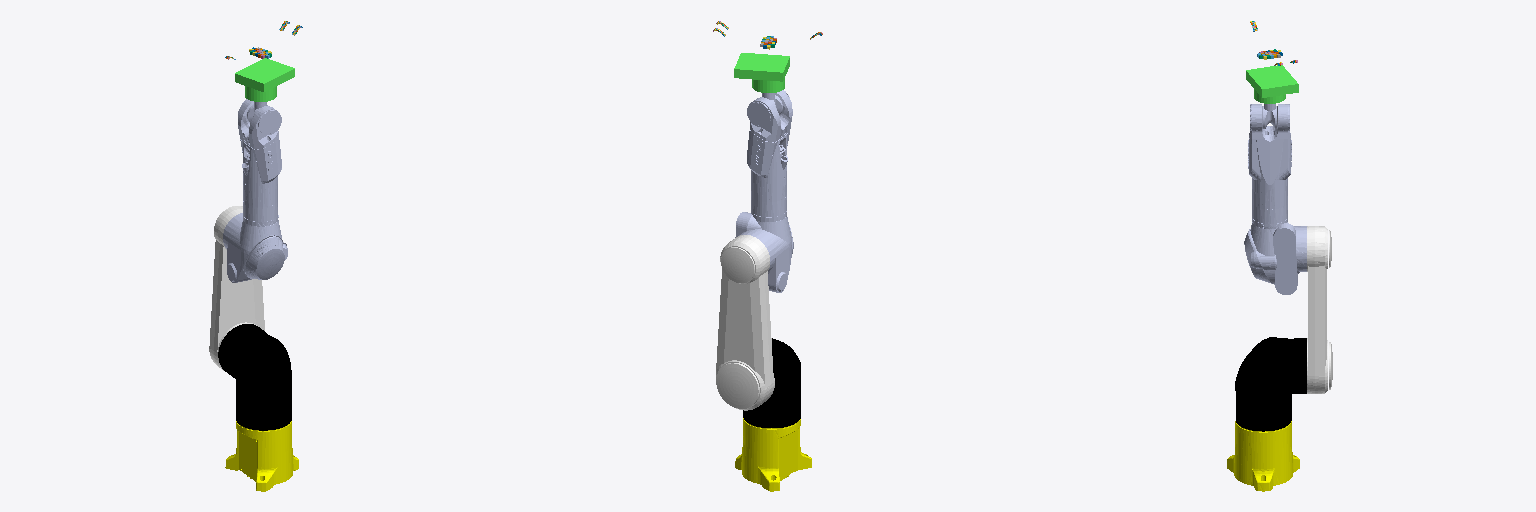
--- Render facts (derived) ---
The picture shows the robot from 3 angles, left to right: view 1: azimuth 30°, elevation 25°; view 2: azimuth 150°, elevation 25°; view 3: azimuth 270°, elevation 25°; orthographic projection.
Model staubli_bhand with 119 links and 118 joints (14 revolute, 104 fixed), rooted at staubli_rx60l_link1, posed all joints at 0.
Visible links, largest first — view 1: staubli_rx60l_link2, staubli_rx60l_link5, staubli_rx60l_link3, staubli_rx60l_link4, staubli_rx60l_link1, barrett_mount_link; view 2: staubli_rx60l_link3, staubli_rx60l_link5, staubli_rx60l_link1, staubli_rx60l_link2, staubli_rx60l_link4, barrett_mount_link; view 3: staubli_rx60l_link2, staubli_rx60l_link5, staubli_rx60l_link3, staubli_rx60l_link4, staubli_rx60l_link1, barrett_mount_link.
Boxes of the visible links, x1=… form: staubli_rx60l_link2: x1=218, y1=324, x2=291, y2=430; staubli_rx60l_link5: x1=238, y1=99, x2=281, y2=221; staubli_rx60l_link3: x1=209, y1=206, x2=264, y2=370; staubli_rx60l_link4: x1=223, y1=213, x2=287, y2=282; staubli_rx60l_link1: x1=225, y1=421, x2=298, y2=491; barrett_mount_link: x1=235, y1=58, x2=294, y2=91; staubli_rx60l_link3: x1=716, y1=235, x2=774, y2=410; staubli_rx60l_link5: x1=747, y1=90, x2=792, y2=216; staubli_rx60l_link1: x1=735, y1=418, x2=811, y2=491; staubli_rx60l_link2: x1=743, y1=338, x2=800, y2=427; staubli_rx60l_link4: x1=735, y1=211, x2=793, y2=292; barrett_mount_link: x1=734, y1=53, x2=789, y2=81; staubli_rx60l_link2: x1=1235, y1=337, x2=1306, y2=431; staubli_rx60l_link5: x1=1248, y1=104, x2=1291, y2=223; staubli_rx60l_link3: x1=1307, y1=226, x2=1332, y2=393; staubli_rx60l_link4: x1=1244, y1=218, x2=1306, y2=294; staubli_rx60l_link1: x1=1227, y1=421, x2=1299, y2=491; barrett_mount_link: x1=1246, y1=65, x2=1298, y2=97.
Size in the robot's own frame: 0.3233 by 0.3308 by 1.49 metres.
7 mesh visuals loaded from 11 distinct referenced files (7 Collada DAE); not drawn: 9 (reference not matched to a file when rendering).

robot.urdf — staubli_bhand:
<?xml version="1.0" ?>
<!-- =================================================================================== -->
<!-- |    This document was autogenerated by xacro from staubli_bhand.xacro            | -->
<!-- |    EDITING THIS FILE BY HAND IS NOT RECOMMENDED                                 | -->
<!-- =================================================================================== -->
<robot name="staubli_bhand">
    <!-- links -->
    <link name="staubli_rx60l_link1">
        <inertial>
            <mass value="0.1"/>
            <origin rpy="0 0 0" xyz="0 0 0"/>
            <inertia ixx="0.01" ixy="0" ixz="0" iyy="0.01" iyz="0" izz="0.01"/>
        </inertial>
        <visual>
            <origin rpy="0 0 0" xyz="0 0 0"/>
            <geometry>
                <mesh filename="package://staubli_description/meshes/tx60l/collada/1.dae" scale=".001 .001 .001"/>
            </geometry>
            <material name="Yellow">
                <color rgba="245 196 0 1.0"/>
            </material>
        </visual>
        <!--<collision>-->
            <!--<origin rpy="0 0 0" xyz="0 0 0"/>-->
            <!--<geometry>-->
                <!--<mesh filename="package://staubli_description/meshes/tx60l/collada/1.dae" scale=".001 .001 .001"/>-->
            <!--</geometry>-->
            <!--<material name="Yellow">-->
                <!--<color rgba="245 196 0 1.0"/>-->
            <!--</material>-->
            <!--<inertial>-->
                <!--<origin xyz="0 0 0"/>-->
                <!--<mass value="50.573"/>-->
                <!--<inertia ixx="0.0001" ixy="0.0" ixz="0.0" iyy="0.0001" iyz="0.0" izz="0.001"/>-->
            <!--</inertial>-->
        <!--</collision>-->
    </link>
    <link name="staubli_rx60l_link2">
        <inertial>
            <mass value="0.1"/>
            <origin rpy="0 0 0" xyz="0 0 0"/>
            <inertia ixx="0.01" ixy="0" ixz="0" iyy="0.01" iyz="0" izz="0.01"/>
        </inertial>
        <visual>
            <origin rpy="0 0 0" xyz="0 0 0"/>
            <geometry>
                <mesh filename="package://staubli_description/meshes/tx60l/collada/2.dae" scale=".001 .001 .001"/>
            </geometry>
            <material name="Black">
                <color rgba="0 0 0 1.0"/>
            </material>
        </visual>
        <!--<collision>-->
            <!--<origin rpy="0 0 0" xyz="0 0 0"/>-->
            <!--<geometry>-->
                <!--<mesh filename="package://staubli_description/meshes/tx60l/collada/2.dae" scale=".001 .001 .001"/>-->
            <!--</geometry>-->
            <!--<material name="Black">-->
                <!--<color rgba="0 0 0 1.0"/>-->
            <!--</material>-->
            <!--<inertial>-->
                <!--<origin xyz="0 0 0"/>-->
                <!--<mass value="50.573"/>-->
                <!--<inertia ixx="0.0001" ixy="0.0" ixz="0.0" iyy="0.0001" iyz="0.0" izz="0.001"/>-->
            <!--</inertial>-->
        <!--</collision>-->
    </link>
    <link name="staubli_rx60l_link3">
        <inertial>
            <mass value="0.1"/>
            <origin rpy="0 0 0" xyz="0 0 0"/>
            <inertia ixx="0.01" ixy="0" ixz="0" iyy="0.01" iyz="0" izz="0.01"/>
        </inertial>
        <visual>
            <origin rpy="0 0 0" xyz="-0.4 0 0"/>
            <geometry>
                <mesh filename="package://staubli_description/meshes/tx60l/collada/3.dae" scale=".001 .001 .001"/>
            </geometry>
            <material name="White">
                <color rgba="255 255 255 1.0"/>
            </material>
        </visual>
        <!--<collision>-->
            <!--<origin rpy="0 0 0" xyz="-0.4 0 0"/>-->
            <!--<geometry>-->
                <!--<mesh filename="package://staubli_description/meshes/tx60l/collada/3.dae" scale=".001 .001 .001"/>-->
            <!--</geometry>-->
            <!--<material name="White">-->
                <!--<color rgba="[phone redacted] 1.0"/>-->
            <!--</material>-->
        <!--</collision>-->
    </link>
    <link name="staubli_rx60l_link4">
        <inertial>
            <mass value="0.1"/>
            <origin rpy="0 0 0" xyz="0 0 0"/>
            <inertia ixx="0.01" ixy="0" ixz="0" iyy="0.01" iyz="0" izz="0.01"/>
        </inertial>
        <visual>
            <origin rpy="0 0 0" xyz="0 0 0"/>
            <geometry>
                <mesh filename="package://staubli_description/meshes/tx60l/collada/4.dae" scale=".001 .001 .001"/>
            </geometry>
            <material name="Blue"/>
        </visual>
        <!--<collision>-->
            <!--<origin rpy="0 0 0" xyz="0 0 0"/>-->
            <!--<geometry>-->
                <!--<mesh filename="package://staubli_description/meshes/tx60l/collada/4.dae" scale=".001 .001 .001"/>-->
            <!--</geometry>-->
            <!--<material name="Blue">-->
                <!--<color rgba="0 0 255 1.0"/>-->
            <!--</material>-->
        <!--</collision>-->
    </link>
    <link name="staubli_rx60l_link5">
        <inertial>
            <mass value="0.1"/>
            <origin rpy="0 0 0" xyz="0 0 0"/>
            <inertia ixx="0.01" ixy="0" ixz="0" iyy="0.01" iyz="0" izz="0.01"/>
        </inertial>
        <visual>
            <origin rpy="0 0 0" xyz="0 0 0"/>
            <geometry>
                <mesh filename="package://staubli_description/meshes/tx60l/collada/5.dae" scale=".001 .001 .001"/>
            </geometry>
            <material name="Blue"/>
        </visual>
        <!--<collision>-->
            <!--<origin rpy="0 0 0" xyz="0 0 0"/>-->
            <!--<geometry>-->
                <!--<mesh filename="package://staubli_description/meshes/tx60l/collada/5.dae" scale=".001 .001 .001"/>-->
            <!--</geometry>-->
            <!--<material name="Blue">-->
                <!--<color rgba="0 0 255 1.0"/>-->
            <!--</material>-->
        <!--</collision>-->
    </link>
    <link name="staubli_rx60l_link6">
        <inertial>
            <mass value="0.1"/>
            <origin rpy="0 0 0" xyz="0 0 0"/>
            <inertia ixx="0.01" ixy="0" ixz="0" iyy="0.01" iyz="0" izz="0.01"/>
        </inertial>
        <visual>
            <origin rpy="0 0 0" xyz="0 0 0"/>
            <geometry>
                <mesh filename="package://staubli_description/meshes/tx60l/collada/6.dae" scale=".001 .001 .001"/>
            </geometry>
            <material name="Blue"/>
        </visual>
        <!--<collision>-->
            <!--<origin rpy="0 0 0" xyz="0 0 0"/>-->
            <!--<geometry>-->
                <!--<mesh filename="package://staubli_description/meshes/tx60l/collada/6.dae" scale=".001 .001 .001"/>-->
            <!--</geometry>-->
            <!--<material name="Blue">-->
                <!--<color rgba="0 0 255 1.0"/>-->
            <!--</material>-->
        <!--</collision>-->
    </link>
    <link name="staubli_rx60l_link7">
        <inertial>
            <mass value="0.1"/>
            <origin rpy="0 0 0" xyz="0 0 0"/>
            <inertia ixx="0.01" ixy="0" ixz="0" iyy="0.01" iyz="0" izz="0.01"/>
        </inertial>
        <visual>
            <origin rpy="0 0 0" xyz="0 0 0"/>
            <geometry>
                <mesh filename="package://staubli_description/meshes/tx60l/collada/7.dae" scale=".001 .001 .001"/>
            </geometry>
            <material name="Gray">
                <color rgba="100 100 100 1.0"/>
            </material>
        </visual>
        <!--<collision>-->
            <!--<origin rpy="0 0 0" xyz="0 0 0"/>-->
            <!--<geometry>-->
                <!--<mesh filename="package://staubli_description/meshes/tx60l/collada/7.dae" scale=".001 .001 .001"/>-->
            <!--</geometry>-->
            <!--<material name="Gray">-->
                <!--<color rgba="[phone redacted] 1.0"/>-->
            <!--</material>-->
        <!--</collision>-->
    </link>
    <link name="staubli_rx60l_tool0">
        <inertial>
            <mass value="0.1"/>
            <origin rpy="0 0 0" xyz="0 0 0"/>
            <inertia ixx="0.01" ixy="0" ixz="0" iyy="0.01" iyz="0" izz="0.01"/>
        </inertial>
    </link>

    <!-- joints -->
    <joint name="joint_1" type="revolute">
        <origin rpy="1.57079 0.0 3.1415" xyz="0 0 0"/>
        <parent link="staubli_rx60l_link1"/>
        <child link="staubli_rx60l_link2"/>
        <axis xyz="0 1 0"/>
        <limit effort="100" lower="-2.792526803" upper="2.792526803" velocity="5.009094953"/>
    </joint>
    <joint name="joint_2" type="revolute">
        <origin rpy="0 0 -1.5707" xyz="0 0.0 0.1606"/>
        <parent link="staubli_rx60l_link2"/>
        <child link="staubli_rx60l_link3"/>
        <axis xyz="0 0 1"/>
        <limit effort="100" lower="-2.225294796" upper="2.225294796" velocity="5.009094953"/>
    </joint>
    <joint name="joint_3" type="revolute">
        <origin rpy="1.5707 0 -1.5707" xyz="-0.4 0.0 -0.1406"/>
        <parent link="staubli_rx60l_link3"/>
        <child link="staubli_rx60l_link4"/>
        <axis xyz="0 1 0"/>
        <limit effort="100" lower="-2.347467844" upper="2.347467844" velocity="5.567600314"/>
    </joint>
    <joint name="joint_4" type="revolute">
        <origin rpy="1.571 -0.000 3.142" xyz="0 0 0.45"/>
        <parent link="staubli_rx60l_link4"/>
        <child link="staubli_rx60l_link5"/>
        <axis xyz="0 1 0"/>
        <limit effort="100" lower="-4.71238898" upper="4.71238898" velocity="7.155849933"/>
    </joint>
    <joint name="joint_5" type="revolute">
        <origin rpy="1.571 0.000 3.142" xyz="0 0 0.0"/>
        <parent link="staubli_rx60l_link5"/>
        <child link="staubli_rx60l_link6"/>
        <axis xyz="0 1 0"/>
        <limit effort="100" lower="-1.78" upper="1.86" velocity="5.585053606"/>
    </joint>
    <joint name="joint_6" type="revolute">
        <origin xyz="0 0 0.07"/>
        <parent link="staubli_rx60l_link6"/>
        <child link="staubli_rx60l_link7"/>
        <axis xyz="0 0 1"/>
        <limit effort="100" lower="-6.2" upper="6.2" velocity="12.217304764"/>
    </joint>
    <joint name="joint_6-tool0" type="fixed">
        <parent link="staubli_rx60l_link7"/>
        <child link="staubli_rx60l_tool0"/>
        <origin rpy="0 0 0" xyz="0 0 0"/>
    </joint>
    <link name="wrist_load_cell">
        <visual>
            <material name="ATIGreen">
                <color rgba="0.4 1.0 0.4 1.0"/>
            </material>
            <origin rpy="0 0 0" xyz="0 0 0"/>
            <geometry>
                <cylinder length="0.0775" radius="0.05"/>
            </geometry>
        </visual>
        <collision>
            <material name="ATIGreen">
                <color rgba="0.4 1.0 0.4 1.0"/>
            </material>
            <origin rpy="0 0 0" xyz="0 0 0"/>
            <geometry>
                <cylinder length="0.0775" radius="0.065"/>
            </geometry>
        </collision>
        <inertial>
            <origin xyz="0 0 0"/>
            <mass value="0.50573"/>
            <inertia ixx="0.0001" ixy="0.0" ixz="0.0" iyy="0.0001" iyz="0.0" izz="0.001"/>
        </inertial>
    </link>
    <joint name="ati_load_cell_joint" type="fixed">
        <origin rpy="0 0 0" xyz="0 0 0.03875"/>
        <parent link="staubli_rx60l_link7"/>
        <child link="wrist_load_cell"/>
    </joint>
    <link name="barrett_mount_link">
        <visual>
            <origin rpy="0 0 0" xyz="0.0 0.02 0"/>
            <material name="ATIGreen">
                <color rgba="0.4 1.0 0.4 1.0"/>
            </material>
            <geometry>
                <box size="0.12 0.15 0.03"/>
            </geometry>
        </visual>
        <collision>
            <origin rpy="0 0 0" xyz="0.0 0.02 0"/>
            <material name="ATIGreen">
                <color rgba="0.4 1.0 0.4 1.0"/>
            </material>
            <geometry>
                <cylinder length="0.0775" radius="0.065"/>
            </geometry>
        </collision>
        <inertial>
            <origin xyz="0 0 0"/>
            <mass value="0.50573"/>
            <inertia ixx="0.0001" ixy="0.0" ixz="0.0" iyy="0.0001" iyz="0.0" izz="0.001"/>
        </inertial>
    </link>
    <joint name="barrett_mount_joint" type="fixed">
        <origin rpy="0 0 5.0614" xyz="0 0 0.0625"/>
        <parent link="staubli_rx60l_link7"/>
        <child link="barrett_mount_link"/>
    </joint>
    <link name="approach_tran">
        <inertial>
            <origin xyz="0 0 0"/>
            <mass value="0.001"/>
            <inertia ixx="0.0001" ixy="0.0" ixz="0.0" iyy="0.0001" iyz="0.0" izz="0.001"/>
        </inertial>
    </link>
    <joint name="approach_tran_joint" type="fixed">
        <origin rpy="0 0 5.0614" xyz="0 0 0.149"/>
        <parent link="staubli_rx60l_link7"/>
        <child link="approach_tran"/>
    </joint>
    <joint name="bh_base_joint" type="fixed">
        <origin rpy="0 0 5.0614" xyz="0 0 0.0705"/>
        <parent link="staubli_rx60l_link7"/>
        <child link="bh_base_link"/>
    </joint>
    <!-- HAND WORLD_LINK (RED) -->
    <link name="bh_base_link">
        <inertial>
            <mass value="1.0"/>
            <origin xyz="0 0 0"/>
            <inertia ixx="1.0" ixy="0.0" ixz="0.0" iyy="1.0" iyz="0.0" izz="1.0"/>
        </inertial>
        <visual>
            <origin rpy="0 0 0" xyz="0 0 0"/>
            <geometry>
                <mesh filename="package://barrett_hand_description/meshes/palm_280.dae"/>
            </geometry>
            <material name="White">
                <color rgba="255 255 255 0.8"/>
            </material>
        </visual>
        <collision>
            <origin rpy="0 0 0 " xyz="0 0 0"/>
            <geometry>
                <mesh filename="package://barrett_hand_description/meshes/palm_280.dae"/>
            </geometry>
            <contact_coefficients kd="1.0" kp="1000.0" mu="0"/>
        </collision>
    </link>
    <!-- finger 3 -->
    <!-- finger 32 link -->
    <link name="bh_finger_32_link">
        <inertial>
            <mass value="0.1"/>
            <origin rpy="0 0 0" xyz="0 0 0"/>
            <inertia ixx="0.01" ixy="0" ixz="0" iyy="0.01" iyz="0" izz="0.01"/>
        </inertial>
        <visual>
            <origin rpy="0 0 0" xyz="0 0 0"/>
            <geometry>
                <mesh filename="package://barrett_hand_description/meshes/finger.dae"/>
            </geometry>
            <material name="Blue"/>
        </visual>
        <collision>
            <origin rpy="0 0 0" xyz="0 0 0"/>
            <geometry>
                <mesh filename="package://barrett_hand_description/meshes/finger.dae"/>
            </geometry>
            <contact_coefficients kd="1.0" kp="1000.0" mu="0"/>
        </collision>
    </link>
    <!-- joint between BH_finger_31_link and BH_finger_32_link -->
    <joint name="bh_j32_joint" type="revolute">
        <parent link="bh_base_link"/>
        <child link="bh_finger_32_link"/>
        <origin rpy="1.5708 0 1.5708" xyz="0 -0.05 0.0754"/>
        <axis xyz="0 0 -1"/>
        <limit effort="30.0" lower="0.0" upper="2.44" velocity="2.0"/>
        <dynamics damping="1" friction="1.0"/>
    </joint>
    <transmission name="bh_j32_transmission">
        <type>transmission_interface/SimpleTransmission</type>
        <joint name="bh_j32_joint">
            <hardwareInterface>PositionJointInterface</hardwareInterface>
        </joint>
        <actuator name="bh_j32">
            <hardwareInterface>PositionJointInterface</hardwareInterface>
            <mechanicalReduction>1</mechanicalReduction>
            <motorTorqueConstant>1</motorTorqueConstant>
        </actuator>
    </transmission>
    <!-- finger 33 link -->
    <link name="bh_finger_33_link">
        <inertial>
            <mass value="0.1"/>
            <origin rpy="0 0 0" xyz="0 0 0"/>
            <inertia ixx="0.01" ixy="0" ixz="0" iyy="0.01" iyz="0" izz="0.01"/>
        </inertial>
        <visual>
            <origin rpy="0 0 0" xyz="0 0 0"/>
            <geometry>
                <mesh filename="package://barrett_hand_description/meshes/finger_tip.dae"/>
            </geometry>
            <material name="White"/>
        </visual>
        <collision>
            <origin rpy="0 0 0" xyz="0 0 0"/>
            <geometry>
                <mesh filename="package://barrett_hand_description/meshes/finger_tip.dae"/>
            </geometry>
            <contact_coefficients kd="1.0" kp="1000.0" mu="0"/>
        </collision>
    </link>
    <!-- joint between BH_finger_32_link and BH_finger_33_link -->
    <joint name="bh_j33_joint" type="revolute">
        <parent link="bh_finger_32_link"/>
        <child link="bh_finger_33_link"/>
        <origin rpy="0 0 0" xyz="-0.069936 0.003 0"/>
        <axis xyz="0 0 -1"/>
        <mimic joint="bh_j32_joint" multiplier="0.344262295082"/>
        <limit effort="30.0" lower="0.0" upper="0.84" velocity="2.0"/>
        <dynamics damping="1" friction="1.0"/>
    </joint>
    <transmission name="bh_j33_transmission">
        <type>transmission_interface/SimpleTransmission</type>
        <joint name="bh_j33_joint">
            <hardwareInterface>PositionJointInterface</hardwareInterface>
        </joint>
        <actuator name="bh_j33">
            <hardwareInterface>PositionJointInterface</hardwareInterface>
            <mechanicalReduction>1</mechanicalReduction>
            <motorTorqueConstant>1</motorTorqueConstant>
        </actuator>
    </transmission>
    <!-- finger 1 -->
    <!-- finger 11 link -->
    <link name="bh_finger_11_link">
        <inertial>
            <mass value="0.1"/>
            <origin rpy="0 0 0" xyz="-0.046 0 0"/>
            <inertia ixx="0.01" ixy="0" ixz="0" iyy="0.01" iyz="0" izz="0.01"/>
        </inertial>
        <visual>
            <origin rpy="0 0 0" xyz="0 0 0"/>
            <geometry>
                <mesh filename="package://barrett_hand_description/meshes/knuckle.dae"/>
            </geometry>
            <material name="Green"/>
        </visual>
        <collision>
            <origin rpy="0 0 0" xyz="0 0 0"/>
            <geometry>
                <mesh filename="package://barrett_hand_description/meshes/knuckle.dae"/>
            </geometry>
        </collision>
    </link>
    <!-- joint between BH_palm_link and BH_finger_11_link -->
    <joint name="bh_j11_joint" type="revolute">
        <parent link="bh_base_link"/>
        <child link="bh_finger_11_link"/>
        <origin rpy="0 0 -1.5708" xyz="0.025 0 0.0415"/>
        <axis xyz="0 0 -1"/>
        <limit effort="30.0" lower="0" upper="3.1416" velocity="2.0"/>
        <dynamics damping="1" friction="1.0"/>
    </joint>
    <transmission name="bh_j11_transmission">
        <type>transmission_interface/SimpleTransmission</type>
        <joint name="bh_j11_joint">
            <hardwareInterface>PositionJointInterface</hardwareInterface>
        </joint>
        <actuator name="bh_j11">
            <hardwareInterface>PositionJointInterface</hardwareInterface>
            <mechanicalReduction>1</mechanicalReduction>
            <motorTorqueConstant>1</motorTorqueConstant>
        </actuator>
    </transmission>
    <!-- finger 12 link -->
    <link name="bh_finger_12_link">
        <inertial>
            <mass value="0.1"/>
            <origin rpy="0 0 0" xyz="0 0 0"/>
            <inertia ixx="0.01" ixy="0" ixz="0" iyy="0.01" iyz="0" izz="0.01"/>
        </inertial>
        <visual>
            <origin rpy="0 0 0" xyz="0 0 0"/>
            <geometry>
                <mesh filename="package://barrett_hand_description/meshes/finger.dae"/>
            </geometry>
            <material name="Blue"/>
        </visual>
        <collision>
            <origin rpy="0 0 0" xyz="0 0 0"/>
            <geometry>
                <mesh filename="package://barrett_hand_description/meshes/finger.dae"/>
            </geometry>
            <contact_coefficients kd="1.0" kp="1000.0" mu="0"/>
        </collision>
    </link>
    <!-- joint between BH_finger_11_link and BH_finger_12_link -->
    <joint name="bh_j12_joint" type="revolute">
        <parent link="bh_finger_11_link"/>
        <child link="bh_finger_12_link"/>
        <origin rpy="1.5708 0 0" xyz="-0.05 0 0.0339"/>
        <axis xyz="0 0 -1"/>
        <limit effort="30.0" lower="0.0" upper="2.44" velocity="2.0"/>
        <dynamics damping="1" friction="1.0"/>
    </joint>
    <transmission name="bh_j12_transmission">
        <type>transmission_interface/SimpleTransmission</type>
        <joint name="bh_j12_joint">
            <hardwareInterface>PositionJointInterface</hardwareInterface>
        </joint>
        <actuator name="bh_j12">
            <hardwareInterface>PositionJointInterface</hardwareInterface>
            <mechanicalReduction>1</mechanicalReduction>
            <motorTorqueConstant>1</motorTorqueConstant>
        </actuator>
    </transmission>
    <!-- finger 13 link -->
    <link name="bh_finger_13_link">
        <inertial>
            <mass value="0.1"/>
            <origin rpy="0 0 0" xyz="0 0 0"/>
            <inertia ixx="0.01" ixy="0" ixz="0" iyy="0.01" iyz="0" izz="0.01"/>
        </inertial>
        <visual>
            <origin rpy="0 0 0" xyz="0 0 0"/>
            <geometry>
                <mesh filename="package://barrett_hand_description/meshes/finger_tip.dae"/>
            </geometry>
            <material name="White"/>
        </visual>
        <collision>
            <origin rpy="0 0 0" xyz="0 0 0"/>
            <geometry>
                <mesh filename="package://barrett_hand_description/meshes/finger_tip.dae"/>
            </geometry>
            <contact_coefficients kd="1.0" kp="1000.0" mu="0"/>
        </collision>
    </link>
    <!-- joint between BH_finger_12_link and BH_finger_13_link -->
    <joint name="bh_j13_joint" type="revolute">
        <parent link="bh_finger_12_link"/>
        <child link="bh_finger_13_link"/>
        <origin rpy="0 0 0" xyz="-0.069936 0.003 0"/>
        <axis xyz="0 0 -1"/>
        <mimic joint="bh_j12_joint" multiplier="0.344262295082"/>
        <limit effort="30.0" lower="0.0" upper="0.84" velocity="2.0"/>
        <dynamics damping="1" friction="1.0"/>
    </joint>
    <transmission name="bh_j13_transmission">
        <type>transmission_interface/SimpleTransmission</type>
        <joint name="bh_j13_joint">
            <hardwareInterface>PositionJointInterface</hardwareInterface>
        </joint>
        <actuator name="bh_j13">
            <hardwareInterface>PositionJointInterface</hardwareInterface>
            <mechanicalReduction>1</mechanicalReduction>
            <motorTorqueConstant>1</motorTorqueConstant>
        </actuator>
    </transmission>
    <!-- finger 2 -->
    <!-- finger 21 link -->
    <link name="bh_finger_21_link">
        <inertial>
            <mass value="0.1"/>
            <origin rpy="0 0 0" xyz="-0.046 0 0"/>
            <inertia ixx="0.01" ixy="0" ixz="0" iyy="0.01" iyz="0" izz="0.01"/>
        </inertial>
        <visual>
            <origin rpy="0 0 0" xyz="0 0 0"/>
            <geometry>
                <mesh filename="package://barrett_hand_description/meshes/knuckle.dae"/>
            </geometry>
            <material name="Green"/>
        </visual>
        <collision>
            <origin rpy="0 0 0" xyz="0 0 0"/>
            <geometry>
                <mesh filename="package://barrett_hand_description/meshes/knuckle.dae"/>
            </geometry>
        </collision>
    </link>
    <!-- joint between BH_palm_link and BH_finger_21_link -->
    <joint name="bh_j21_joint" type="revolute">
        <parent link="bh_base_link"/>
        <child link="bh_finger_21_link"/>
        <origin rpy="0 0 -1.5708" xyz="-0.025 0 0.0415"/>
        <axis xyz="0 0 1"/>
        <mimic joint="bh_j11_joint" multiplier="1"/>
        <limit effort="30.0" lower="0" upper="3.1416" velocity="2.0"/>
        <dynamics damping="1" friction="1.0"/>
    </joint>
    <transmission name="bh_j21_transmission">
        <type>transmission_interface/SimpleTransmission</type>
        <joint name="bh_j21_joint">
            <hardwareInterface>PositionJointInterface</hardwareInterface>
        </joint>
        <actuator name="bh_j21">
            <hardwareInterface>PositionJointInterface</hardwareInterface>
            <mechanicalReduction>1</mechanicalReduction>
            <motorTorqueConstant>1</motorTorqueConstant>
        </actuator>
    </transmission>
    <!-- finger 12 link -->
    <link name="bh_finger_22_link">
        <inertial>
            <mass value="0.1"/>
            <origin rpy="0 0 0" xyz="0 0 0"/>
            <inertia ixx="0.01" ixy="0" ixz="0" iyy="0.01" iyz="0" izz="0.01"/>
        </inertial>
        <visual>
            <origin rpy="0 0 0" xyz="0 0 0"/>
            <geometry>
                <mesh filename="package://barrett_hand_description/meshes/finger.dae"/>
            </geometry>
            <material name="Blue"/>
        </visual>
        <collision>
            <origin rpy="0 0 0" xyz="0 0 0"/>
            <geometry>
                <mesh filename="package://barrett_hand_description/meshes/finger.dae"/>
            </geometry>
            <contact_coefficients kd="1.0" kp="1000.0" mu="0"/>
        </collision>
    </link>
    <!-- joint between BH_finger_21_link and BH_finger_22_link -->
    <joint name="bh_j22_joint" type="revolute">
        <parent link="bh_finger_21_link"/>
        <child link="bh_finger_22_link"/>
        <origin rpy="1.5708 -8.8281E-17 0" xyz="-0.05 0 0.0339"/>
        <axis xyz="0 0 -1"/>
        <limit effort="30.0" lower="0.0" upper="2.44" velocity="2.0"/>
        <dynamics damping="1" friction="1.0"/>
    </joint>
    <transmission name="bh_j22_transmission">
        <type>transmission_interface/SimpleTransmission</type>
        <joint name="bh_j22_joint">
            <hardwareInterface>PositionJointInterface</hardwareInterface>
        </joint>
        <actuator name="bh_j22">
            <hardwareInterface>PositionJointInterface</hardwareInterface>
            <mechanicalReduction>1</mechanicalReduction>
            <motorTorqueConstant>1</motorTorqueConstant>
        </actuator>
    </transmission>
    <!-- finger 23 link -->
    <link name="bh_finger_23_link">
        <inertial>
            <mass value="0.1"/>
            <origin rpy="0 0 0" xyz="0 0 0"/>
            <inertia ixx="0.01" ixy="0" ixz="0" iyy="0.01" iyz="0" izz="0.01"/>
        </inertial>
        <visual>
            <origin rpy="0 0 0" xyz="0 0 0"/>
            <geometry>
                <mesh filename="package://barrett_hand_description/meshes/finger_tip.dae"/>
            </geometry>
            <material name="White"/>
        </visual>
        <collision>
            <origin rpy="0 0 0" xyz="0 0 0"/>
            <geometry>
                <mesh filename="package://barrett_hand_description/meshes/finger_tip.dae"/>
            </geometry>
            <contact_coefficients kd="1.0" kp="1000.0" mu="0"/>
        </collision>
    </link>
    <!-- joint between BH_finger_22_link and BH_finger_23_link -->
    <joint name="bh_j23_joint" type="revolute">
        <parent link="bh_finger_22_link"/>
        <child link="bh_finger_23_link"/>
        <origin rpy="0 0 0" xyz="-0.069936 0.003 0"/>
        <axis xyz="0 0 -1"/>
        <mimic joint="bh_j22_joint" multiplier="0.344262295082"/>
        <limit effort="30.0" lower="0.0" upper="0.84" velocity="2.0"/>
        <dynamics damping="1" friction="1.0"/>
    </joint>
    <transmission name="bh_j23_transmission">
        <type>transmission_interface/SimpleTransmission</type>
        <joint name="bh_j23_joint">
            <hardwareInterface>PositionJointInterface</hardwareInterface>
        </joint>
        <actuator name="bh_j23">
            <hardwareInterface>PositionJointInterface</hardwareInterface>
            <mechanicalReduction>1</mechanicalReduction>
            <motorTorqueConstant>1</motorTorqueConstant>
        </actuator>
    </transmission>
    <gazebo>
        <plugin filename="libgazebo_mimic_plugin.so" name="mimic_plugin">
            <joint>bh_j11_joint</joint>
            <mimicJoint>bh_j21_joint</mimicJoint>
            <multiplier>1</multiplier>
        </plugin>
    </gazebo>
    <gazebo>
        <plugin filename="libgazebo_mimic_plugin.so" name="mimic_plugin">
            <joint>bh_j12_joint</joint>
            <mimicJoint>bh_j13_joint</mimicJoint>
            <multiplier>0.344</multiplier>
        </plugin>
    </gazebo>
    <gazebo>
        <plugin filename="libgazebo_mimic_plugin.so" name="mimic_plugin">
            <joint>bh_j22_joint</joint>
            <mimicJoint>bh_j23_joint</mimicJoint>
            <multiplier>0.344</multiplier>
        </plugin>
    </gazebo>
    <gazebo>
        <plugin filename="libgazebo_mimic_plugin.so" name="mimic_plugin">
            <joint>bh_j32_joint</joint>
            <mimicJoint>bh_j33_joint</mimicJoint>
            <multiplier>0.344</multiplier>
        </plugin>
    </gazebo>
    <gazebo reference="bh_base_link">
        <material>Gazebo/White</material>
        <turnGravityOff>False</turnGravityOff>
    </gazebo>
    <gazebo reference="bh_finger_31_link">
        <material>Gazebo/Grey</material>
        <turnGravityOff>False</turnGravityOff>
    </gazebo>
    <gazebo reference="bh_finger_32_link">
        <material>Gazebo/Grey</material>
        <turnGravityOff>False</turnGravityOff>
    </gazebo>
    <gazebo reference="bh_finger_33_link">
        <material>Gazebo/Grey</material>
        <turnGravityOff>False</turnGravityOff>
    </gazebo>
    <gazebo reference="bh_finger_11_link">
        <material>Gazebo/Grey</material>
        <turnGravityOff>False</turnGravityOff>
    </gazebo>
    <gazebo reference="bh_finger_12_link">
        <material>Gazebo/Grey</material>
        <turnGravityOff>False</turnGravityOff>
    </gazebo>
    <gazebo reference="bh_finger_13_link">
        <material>Gazebo/Grey</material>
        <turnGravityOff>False</turnGravityOff>
    </gazebo>
    <gazebo reference="bh_finger_21_link">
        <material>Gazebo/Grey</material>
        <turnGravityOff>False</turnGravityOff>
    </gazebo>
    <gazebo reference="bh_finger_22_link">
        <material>Gazebo/Grey</material>
        <turnGravityOff>False</turnGravityOff>
    </gazebo>
    <gazebo reference="bh_finger_23_link">
        <material>Gazebo/Grey</material>
        <turnGravityOff>False</turnGravityOff>
    </gazebo>
    <!-- Imaginary joints for transform from tactile sensors -->
    <!-- Radian value obtained from graspit description of 40 degrees -->
    <joint name="bh_finger_14_joint" type="fixed">
        <parent link="bh_finger_13_link"/>
        <child link="bh_finger_14_link"/>
        <origin rpy="0 0 0.872665" xyz="0 0 0"/>
    </joint>
    <link name="bh_finger_14_link">
        <inertial>
            <mass value="0.1"/>
            <origin rpy="0 0 0" xyz="0 0 0"/>
            <inertia ixx="0.01" ixy="0" ixz="0" iyy="0.01" iyz="0" izz="0.01"/>
        </inertial>
    </link>
    <joint name="bh_finger_24_joint" type="fixed">
        <parent link="bh_finger_23_link"/>
        <child link="bh_finger_24_link"/>
        <origin rpy="0 0 0.872665" xyz="0 0 0"/>
    </joint>
    <link name="bh_finger_24_link">
        <inertial>
            <mass value="0.1"/>
            <origin rpy="0 0 0" xyz="0 0 0"/>
            <inertia ixx="0.01" ixy="0" ixz="0" iyy="0.01" iyz="0" izz="0.01"/>
        </inertial>
    </link>
    <joint name="bh_finger_34_joint" type="fixed">
        <parent link="bh_finger_33_link"/>
        <child link="bh_finger_34_link"/>
        <origin rpy="0 0 0.872665" xyz="0 0 0"/>
    </joint>
    <link name="bh_finger_34_link">
        <inertial>
            <mass value="0.1"/>
            <origin rpy="0 0 0" xyz="0 0 0"/>
            <inertia ixx="0.01" ixy="0" ixz="0" iyy="0.01" iyz="0" izz="0.01"/>
        </inertial>
    </link>
    <!-- Auto generated tactile sensor links -->
    <joint name="bh_palm_sensor1_joint" type="fixed">
        <origin rpy="0 0 0" xyz="-0.022 0.0165 0.075"/>
        <parent link="bh_base_link"/>
        <child link="bh_palm_sensor_1_link"/>
    </joint>
    <link name="bh_palm_sensor_1_link">
        <inertial>
            <mass value="0.1"/>
            <origin rpy="0 0 0" xyz="0 0 0"/>
            <inertia ixx="0.01" ixy="0" ixz="0" iyy="0.01" iyz="0" izz="0.01"/>
        </inertial>
        <visual>
            <origin rpy="0 0 0" xyz="0 0 0"/>
            <material name="Blue"/>
            <geometry>
                <box size="0.01 0.01 0.0095"/>
            </geometry>
        </visual>
        <collision>
            <origin rpy="0 0 0 " xyz="0 0 0"/>
            <geometry>
                <box size="0.01 0.01 0.0095"/>
            </geometry>
        </collision>
    </link>
    <joint name="bh_palm_sensor2_joint" type="fixed">
        <origin rpy="0 0 0" xyz="-0.011 0.0165 0.075"/>
        <parent link="bh_base_link"/>
        <child link="bh_palm_sensor_2_link"/>
    </joint>
    <link name="bh_palm_sensor_2_link">
        <inertial>
            <mass value="0.1"/>
            <origin rpy="0 0 0" xyz="0 0 0"/>
            <inertia ixx="0.01" ixy="0" ixz="0" iyy="0.01" iyz="0" izz="0.01"/>
        </inertial>
        <visual>
            <origin rpy="0 0 0" xyz="0 0 0"/>
            <material name="Blue"/>
            <geometry>
                <box size="0.01 0.01 0.0095"/>
            </geometry>
        </visual>
        <collision>
            <origin rpy="0 0 0 " xyz="0 0 0"/>
            <geometry>
                <box size="0.01 0.01 0.0095"/>
            </geometry>
        </collision>
    </link>
    <joint name="bh_palm_sensor3_joint" type="fixed">
        <origin rpy="0 0 0" xyz="0.0 0.0165 0.075"/>
        <parent link="bh_base_link"/>
        <child link="bh_palm_sensor_3_link"/>
    </joint>
    <link name="bh_palm_sensor_3_link">
        <inertial>
            <mass value="0.1"/>
            <origin rpy="0 0 0" xyz="0 0 0"/>
            <inertia ixx="0.01" ixy="0" ixz="0" iyy="0.01" iyz="0" izz="0.01"/>
        </inertial>
        <visual>
            <origin rpy="0 0 0" xyz="0 0 0"/>
            <material name="Blue"/>
            <geometry>
                <box size="0.01 0.01 0.0095"/>
            </geometry>
        </visual>
        <collision>
            <origin rpy="0 0 0 " xyz="0 0 0"/>
            <geometry>
                <box size="0.01 0.01 0.0095"/>
            </geometry>
        </collision>
    </link>
    <joint name="bh_palm_sensor4_joint" type="fixed">
        <origin rpy="0 0 0" xyz="0.011 0.0165 0.075"/>
        <parent link="bh_base_link"/>
        <child link="bh_palm_sensor_4_link"/>
    </joint>
    <link name="bh_palm_sensor_4_link">
        <inertial>
            <mass value="0.1"/>
            <origin rpy="0 0 0" xyz="0 0 0"/>
            <inertia ixx="0.01" ixy="0" ixz="0" iyy="0.01" iyz="0" izz="0.01"/>
        </inertial>
        <visual>
            <origin rpy="0 0 0" xyz="0 0 0"/>
            <material name="Blue"/>
            <geometry>
                <box size="0.01 0.01 0.0095"/>
            </geometry>
        </visual>
        <collision>
            <origin rpy="0 0 0 " xyz="0 0 0"/>
            <geometry>
                <box size="0.01 0.01 0.0095"/>
            </geometry>
        </collision>
    </link>
    <joint name="bh_palm_sensor5_joint" type="fixed">
        <origin rpy="0 0 0" xyz="0.022 0.0165 0.075"/>
        <parent link="bh_base_link"/>
        <child link="bh_palm_sensor_5_link"/>
    </joint>
    <link name="bh_palm_sensor_5_link">
        <inertial>
            <mass value="0.1"/>
            <origin rpy="0 0 0" xyz="0 0 0"/>
            <inertia ixx="0.01" ixy="0" ixz="0" iyy="0.01" iyz="0" izz="0.01"/>
        </inertial>
        <visual>
            <origin rpy="0 0 0" xyz="0 0 0"/>
            <material name="Blue"/>
            <geometry>
                <box size="0.01 0.01 0.0095"/>
            </geometry>
        </visual>
        <collision>
            <origin rpy="0 0 0 " xyz="0 0 0"/>
            <geometry>
                <box size="0.01 0.01 0.0095"/>
            </geometry>
        </collision>
    </link>
    <joint name="bh_palm_sensor6_joint" type="fixed">
        <origin rpy="0 0 0" xyz="-0.033 0.0055 0.075"/>
        <parent link="bh_base_link"/>
        <child link="bh_palm_sensor_6_link"/>
    </joint>
    <link name="bh_palm_sensor_6_link">
        <inertial>
            <mass value="0.1"/>
            <origin rpy="0 0 0" xyz="0 0 0"/>
            <inertia ixx="0.01" ixy="0" ixz="0" iyy="0.01" iyz="0" izz="0.01"/>
        </inertial>
        <visual>
            <origin rpy="0 0 0" xyz="0 0 0"/>
            <material name="Blue"/>
            <geometry>
                <box size="0.01 0.01 0.0095"/>
            </geometry>
        </visual>
        <collision>
            <origin rpy="0 0 0 " xyz="0 0 0"/>
            <geometry>
                <box size="0.01 0.01 0.0095"/>
            </geometry>
        </collision>
    </link>
    <joint name="bh_palm_sensor7_joint" type="fixed">
        <origin rpy="0 0 0" xyz="-0.022 0.0055 0.075"/>
        <parent link="bh_base_link"/>
        <child link="bh_palm_sensor_7_link"/>
    </joint>
    <link name="bh_palm_sensor_7_link">
        <inertial>
            <mass value="0.1"/>
            <origin rpy="0 0 0" xyz="0 0 0"/>
            <inertia ixx="0.01" ixy="0" ixz="0" iyy="0.01" iyz="0" izz="0.01"/>
        </inertial>
        <visual>
            <origin rpy="0 0 0" xyz="0 0 0"/>
            <material name="Blue"/>
            <geometry>
                <box size="0.01 0.01 0.0095"/>
            </geometry>
        </visual>
        <collision>
            <origin rpy="0 0 0 " xyz="0 0 0"/>
            <geometry>
                <box size="0.01 0.01 0.0095"/>
            </geometry>
        </collision>
    </link>
    <joint name="bh_palm_sensor8_joint" type="fixed">
        <origin rpy="0 0 0" xyz="-0.011 0.0055 0.075"/>
        <parent link="bh_base_link"/>
        <child link="bh_palm_sensor_8_link"/>
    </joint>
    <link name="bh_palm_sensor_8_link">
        <inertial>
            <mass value="0.1"/>
            <origin rpy="0 0 0" xyz="0 0 0"/>
            <inertia ixx="0.01" ixy="0" ixz="0" iyy="0.01" iyz="0" izz="0.01"/>
        </inertial>
        <visual>
            <origin rpy="0 0 0" xyz="0 0 0"/>
            <material name="Blue"/>
            <geometry>
                <box size="0.01 0.01 0.0095"/>
            </geometry>
        </visual>
        <collision>
            <origin rpy="0 0 0 " xyz="0 0 0"/>
            <geometry>
                <box size="0.01 0.01 0.0095"/>
            </geometry>
        </collision>
    </link>
    <joint name="bh_palm_sensor9_joint" type="fixed">
        <origin rpy="0 0 0" xyz="0.0 0.0055 0.075"/>
        <parent link="bh_base_link"/>
        <child link="bh_palm_sensor_9_link"/>
    </joint>
    <link name="bh_palm_sensor_9_link">
        <inertial>
            <mass value="0.1"/>
            <origin rpy="0 0 0" xyz="0 0 0"/>
            <inertia ixx="0.01" ixy="0" ixz="0" iyy="0.01" iyz="0" izz="0.01"/>
        </inertial>
        <visual>
            <origin rpy="0 0 0" xyz="0 0 0"/>
            <material name="Blue"/>
            <geometry>
                <box size="0.01 0.01 0.0095"/>
            </geometry>
        </visual>
        <collision>
            <origin rpy="0 0 0 " xyz="0 0 0"/>
            <geometry>
                <box size="0.01 0.01 0.0095"/>
            </geometry>
        </collision>
    </link>
    <joint name="bh_palm_sensor10_joint" type="fixed">
        <origin rpy="0 0 0" xyz="0.011 0.0055 0.075"/>
        <parent link="bh_base_link"/>
        <child link="bh_palm_sensor_10_link"/>
    </joint>
    <link name="bh_palm_sensor_10_link">
        <inertial>
            <mass value="0.1"/>
            <origin rpy="0 0 0" xyz="0 0 0"/>
            <inertia ixx="0.01" ixy="0" ixz="0" iyy="0.01" iyz="0" izz="0.01"/>
        </inertial>
        <visual>
            <origin rpy="0 0 0" xyz="0 0 0"/>
            <material name="Blue"/>
            <geometry>
                <box size="0.01 0.01 0.0095"/>
            </geometry>
        </visual>
        <collision>
            <origin rpy="0 0 0 " xyz="0 0 0"/>
            <geometry>
                <box size="0.01 0.01 0.0095"/>
            </geometry>
        </collision>
    </link>
    <joint name="bh_palm_sensor11_joint" type="fixed">
        <origin rpy="0 0 0" xyz="0.022 0.0055 0.075"/>
        <parent link="bh_base_link"/>
        <child link="bh_palm_sensor_11_link"/>
    </joint>
    <link name="bh_palm_sensor_11_link">
        <inertial>
            <mass value="0.1"/>
            <origin rpy="0 0 0" xyz="0 0 0"/>
            <inertia ixx="0.01" ixy="0" ixz="0" iyy="0.01" iyz="0" izz="0.01"/>
        </inertial>
        <visual>
            <origin rpy="0 0 0" xyz="0 0 0"/>
            <material name="Blue"/>
            <geometry>
                <box size="0.01 0.01 0.0095"/>
            </geometry>
        </visual>
        <collision>
            <origin rpy="0 0 0 " xyz="0 0 0"/>
            <geometry>
                <box size="0.01 0.01 0.0095"/>
            </geometry>
        </collision>
    </link>
    <joint name="bh_palm_sensor12_joint" type="fixed">
        <origin rpy="0 0 0" xyz="0.033 0.0055 0.075"/>
        <parent link="bh_base_link"/>
        <child link="bh_palm_sensor_12_link"/>
    </joint>
    <link name="bh_palm_sensor_12_link">
        <inertial>
            <mass value="0.1"/>
            <origin rpy="0 0 0" xyz="0 0 0"/>
            <inertia ixx="0.01" ixy="0" ixz="0" iyy="0.01" iyz="0" izz="0.01"/>
        </inertial>
        <visual>
            <origin rpy="0 0 0" xyz="0 0 0"/>
            <material name="Blue"/>
            <geometry>
                <box size="0.01 0.01 0.0095"/>
            </geometry>
        </visual>
        <collision>
            <origin rpy="0 0 0 " xyz="0 0 0"/>
            <geometry>
                <box size="0.01 0.01 0.0095"/>
            </geometry>
        </collision>
    </link>
    <joint name="bh_palm_sensor13_joint" type="fixed">
        <origin rpy="0 0 0" xyz="-0.033 -0.0055 0.075"/>
        <parent link="bh_base_link"/>
        <child link="bh_palm_sensor_13_link"/>
    </joint>
    <link name="bh_palm_sensor_13_link">
        <inertial>
            <mass value="0.1"/>
            <origin rpy="0 0 0" xyz="0 0 0"/>
            <inertia ixx="0.01" ixy="0" ixz="0" iyy="0.01" iyz="0" izz="0.01"/>
        </inertial>
        <visual>
            <origin rpy="0 0 0" xyz="0 0 0"/>
            <material name="Blue"/>
            <geometry>
                <box size="0.01 0.01 0.0095"/>
            </geometry>
        </visual>
        <collision>
            <origin rpy="0 0 0 " xyz="0 0 0"/>
            <geometry>
                <box size="0.01 0.01 0.0095"/>
            </geometry>
        </collision>
    </link>
    <joint name="bh_palm_sensor14_joint" type="fixed">
        <origin rpy="0 0 0" xyz="-0.022 -0.0055 0.075"/>
        <parent link="bh_base_link"/>
        <child link="bh_palm_sensor_14_link"/>
    </joint>
    <link name="bh_palm_sensor_14_link">
        <inertial>
            <mass value="0.1"/>
            <origin rpy="0 0 0" xyz="0 0 0"/>
            <inertia ixx="0.01" ixy="0" ixz="0" iyy="0.01" iyz="0" izz="0.01"/>
        </inertial>
        <visual>
            <origin rpy="0 0 0" xyz="0 0 0"/>
            <material name="Blue"/>
            <geometry>
                <box size="0.01 0.01 0.0095"/>
            </geometry>
        </visual>
        <collision>
            <origin rpy="0 0 0 " xyz="0 0 0"/>
            <geometry>
                <box size="0.01 0.01 0.0095"/>
            </geometry>
        </collision>
    </link>
    <joint name="bh_palm_sensor15_joint" type="fixed">
        <origin rpy="0 0 0" xyz="-0.011 -0.0055 0.075"/>
        <parent link="bh_base_link"/>
        <child link="bh_palm_sensor_15_link"/>
    </joint>
    <link name="bh_palm_sensor_15_link">
        <inertial>
            <mass value="0.1"/>
            <origin rpy="0 0 0" xyz="0 0 0"/>
            <inertia ixx="0.01" ixy="0" ixz="0" iyy="0.01" iyz="0" izz="0.01"/>
        </inertial>
        <visual>
            <origin rpy="0 0 0" xyz="0 0 0"/>
            <material name="Blue"/>
            <geometry>
                <box size="0.01 0.01 0.0095"/>
            </geometry>
        </visual>
        <collision>
            <origin rpy="0 0 0 " xyz="0 0 0"/>
            <geometry>
                <box size="0.01 0.01 0.0095"/>
            </geometry>
        </collision>
    </link>
    <joint name="bh_palm_sensor16_joint" type="fixed">
        <origin rpy="0 0 0" xyz="0.0 -0.0055 0.075"/>
        <parent link="bh_base_link"/>
        <child link="bh_palm_sensor_16_link"/>
    </joint>
    <link name="bh_palm_sensor_16_link">
        <inertial>
            <mass value="0.1"/>
            <origin rpy="0 0 0" xyz="0 0 0"/>
            <inertia ixx="0.01" ixy="0" ixz="0" iyy="0.01" iyz="0" izz="0.01"/>
        </inertial>
        <visual>
            <origin rpy="0 0 0" xyz="0 0 0"/>
            <material name="Blue"/>
            <geometry>
                <box size="0.01 0.01 0.0095"/>
            </geometry>
        </visual>
        <collision>
            <origin rpy="0 0 0 " xyz="0 0 0"/>
            <geometry>
                <box size="0.01 0.01 0.0095"/>
            </geometry>
        </collision>
    </link>
    <joint name="bh_palm_sensor17_joint" type="fixed">
        <origin rpy="0 0 0" xyz="0.011 -0.0055 0.075"/>
        <parent link="bh_base_link"/>
        <child link="bh_palm_sensor_17_link"/>
    </joint>
    <link name="bh_palm_sensor_17_link">
        <inertial>
            <mass value="0.1"/>
            <origin rpy="0 0 0" xyz="0 0 0"/>
            <inertia ixx="0.01" ixy="0" ixz="0" iyy="0.01" iyz="0" izz="0.01"/>
        </inertial>
        <visual>
            <origin rpy="0 0 0" xyz="0 0 0"/>
            <material name="Blue"/>
            <geometry>
                <box size="0.01 0.01 0.0095"/>
            </geometry>
        </visual>
        <collision>
            <origin rpy="0 0 0 " xyz="0 0 0"/>
            <geometry>
                <box size="0.01 0.01 0.0095"/>
            </geometry>
        </collision>
    </link>
    <joint name="bh_palm_sensor18_joint" type="fixed">
        <origin rpy="0 0 0" xyz="0.022 -0.0055 0.075"/>
        <parent link="bh_base_link"/>
        <child link="bh_palm_sensor_18_link"/>
    </joint>
    <link name="bh_palm_sensor_18_link">
        <inertial>
            <mass value="0.1"/>
            <origin rpy="0 0 0" xyz="0 0 0"/>
            <inertia ixx="0.01" ixy="0" ixz="0" iyy="0.01" iyz="0" izz="0.01"/>
        </inertial>
        <visual>
            <origin rpy="0 0 0" xyz="0 0 0"/>
            <material name="Blue"/>
            <geometry>
                <box size="0.01 0.01 0.0095"/>
            </geometry>
        </visual>
        <collision>
            <origin rpy="0 0 0 " xyz="0 0 0"/>
            <geometry>
                <box size="0.01 0.01 0.0095"/>
            </geometry>
        </collision>
    </link>
    <joint name="bh_palm_sensor19_joint" type="fixed">
        <origin rpy="0 0 0" xyz="0.033 -0.0055 0.075"/>
        <parent link="bh_base_link"/>
        <child link="bh_palm_sensor_19_link"/>
    </joint>
    <link name="bh_palm_sensor_19_link">
        <inertial>
            <mass value="0.1"/>
            <origin rpy="0 0 0" xyz="0 0 0"/>
            <inertia ixx="0.01" ixy="0" ixz="0" iyy="0.01" iyz="0" izz="0.01"/>
        </inertial>
        <visual>
            <origin rpy="0 0 0" xyz="0 0 0"/>
            <material name="Blue"/>
            <geometry>
                <box size="0.01 0.01 0.0095"/>
            </geometry>
        </visual>
        <collision>
            <origin rpy="0 0 0 " xyz="0 0 0"/>
            <geometry>
                <box size="0.01 0.01 0.0095"/>
            </geometry>
        </collision>
    </link>
    <joint name="bh_palm_sensor20_joint" type="fixed">
        <origin rpy="0 0 0" xyz="-0.022 -0.0165 0.075"/>
        <parent link="bh_base_link"/>
        <child link="bh_palm_sensor_20_link"/>
    </joint>
    <link name="bh_palm_sensor_20_link">
        <inertial>
            <mass value="0.1"/>
            <origin rpy="0 0 0" xyz="0 0 0"/>
            <inertia ixx="0.01" ixy="0" ixz="0" iyy="0.01" iyz="0" izz="0.01"/>
        </inertial>
        <visual>
            <origin rpy="0 0 0" xyz="0 0 0"/>
            <material name="Blue"/>
            <geometry>
                <box size="0.01 0.01 0.0095"/>
            </geometry>
        </visual>
        <collision>
            <origin rpy="0 0 0 " xyz="0 0 0"/>
            <geometry>
                <box size="0.01 0.01 0.0095"/>
            </geometry>
        </collision>
    </link>
    <joint name="bh_palm_sensor21_joint" type="fixed">
        <origin rpy="0 0 0" xyz="-0.011 -0.0165 0.075"/>
        <parent link="bh_base_link"/>
        <child link="bh_palm_sensor_21_link"/>
    </joint>
    <link name="bh_palm_sensor_21_link">
        <inertial>
            <mass value="0.1"/>
            <origin rpy="0 0 0" xyz="0 0 0"/>
            <inertia ixx="0.01" ixy="0" ixz="0" iyy="0.01" iyz="0" izz="0.01"/>
        </inertial>
        <visual>
            <origin rpy="0 0 0" xyz="0 0 0"/>
            <material name="Blue"/>
            <geometry>
                <box size="0.01 0.01 0.0095"/>
            </geometry>
        </visual>
        <collision>
            <origin rpy="0 0 0 " xyz="0 0 0"/>
            <geometry>
                <box size="0.01 0.01 0.0095"/>
            </geometry>
        </collision>
    </link>
    <joint name="bh_palm_sensor22_joint" type="fixed">
        <origin rpy="0 0 0" xyz="0.0 -0.0165 0.075"/>
        <parent link="bh_base_link"/>
        <child link="bh_palm_sensor_22_link"/>
    </joint>
    <link name="bh_palm_sensor_22_link">
        <inertial>
            <mass value="0.1"/>
            <origin rpy="0 0 0" xyz="0 0 0"/>
            <inertia ixx="0.01" ixy="0" ixz="0" iyy="0.01" iyz="0" izz="0.01"/>
        </inertial>
        <visual>
            <origin rpy="0 0 0" xyz="0 0 0"/>
            <material name="Blue"/>
            <geometry>
                <box size="0.01 0.01 0.0095"/>
            </geometry>
        </visual>
        <collision>
            <origin rpy="0 0 0 " xyz="0 0 0"/>
            <geometry>
                <box size="0.01 0.01 0.0095"/>
            </geometry>
        </collision>
    </link>
    <joint name="bh_palm_sensor23_joint" type="fixed">
        <origin rpy="0 0 0" xyz="0.011 -0.0165 0.075"/>
        <parent link="bh_base_link"/>
        <child link="bh_palm_sensor_23_link"/>
    </joint>
    <link name="bh_palm_sensor_23_link">
        <inertial>
            <mass value="0.1"/>
            <origin rpy="0 0 0" xyz="0 0 0"/>
            <inertia ixx="0.01" ixy="0" ixz="0" iyy="0.01" iyz="0" izz="0.01"/>
        </inertial>
        <visual>
            <origin rpy="0 0 0" xyz="0 0 0"/>
            <material name="Blue"/>
            <geometry>
                <box size="0.01 0.01 0.0095"/>
            </geometry>
        </visual>
        <collision>
            <origin rpy="0 0 0 " xyz="0 0 0"/>
            <geometry>
                <box size="0.01 0.01 0.0095"/>
            </geometry>
        </collision>
    </link>
    <joint name="bh_palm_sensor24_joint" type="fixed">
        <origin rpy="0 0 0" xyz="0.022 -0.0165 0.075"/>
        <parent link="bh_base_link"/>
        <child link="bh_palm_sensor_24_link"/>
    </joint>
    <link name="bh_palm_sensor_24_link">
        <inertial>
            <mass value="0.1"/>
            <origin rpy="0 0 0" xyz="0 0 0"/>
            <inertia ixx="0.01" ixy="0" ixz="0" iyy="0.01" iyz="0" izz="0.01"/>
        </inertial>
        <visual>
            <origin rpy="0 0 0" xyz="0 0 0"/>
            <material name="Blue"/>
            <geometry>
                <box size="0.01 0.01 0.0095"/>
            </geometry>
        </visual>
        <collision>
            <origin rpy="0 0 0 " xyz="0 0 0"/>
            <geometry>
                <box size="0.01 0.01 0.0095"/>
            </geometry>
        </collision>
    </link>
    <joint name="bh_link1_sensor1_joint" type="fixed">
        <origin rpy="0 0 0" xyz="0.0105 0.02225 -0.005175"/>
        <parent link="bh_finger_14_link"/>
        <child link="bh_link1_sensor1_link"/>
    </joint>
    <link name="bh_link1_sensor1_link">
        <inertial>
            <mass value="0.1"/>
            <origin rpy="0 0 0" xyz="0 0 0"/>
            <inertia ixx="0.01" ixy="0" ixz="0" iyy="0.01" iyz="0" izz="0.01"/>
        </inertial>
        <visual>
            <origin rpy="0 0 0" xyz="0 0 0"/>
            <material name="Blue"/>
            <geometry>
                <box size="0.0015 0.0055 0.00465"/>
            </geometry>
        </visual>
        <collision>
            <origin rpy="0 0 0" xyz="0 0 0"/>
            <material name="Blue"/>
            <geometry>
                <box size="0.0015 0.0055 0.00465"/>
            </geometry>
        </collision>
    </link>
    <joint name="bh_link1_sensor2_joint" type="fixed">
        <origin rpy="0 0 0" xyz="0.0105 0.02225 0.0"/>
        <parent link="bh_finger_14_link"/>
        <child link="bh_link1_sensor2_link"/>
    </joint>
    <link name="bh_link1_sensor2_link">
        <inertial>
            <mass value="0.1"/>
            <origin rpy="0 0 0" xyz="0 0 0"/>
            <inertia ixx="0.01" ixy="0" ixz="0" iyy="0.01" iyz="0" izz="0.01"/>
        </inertial>
        <visual>
            <origin rpy="0 0 0" xyz="0 0 0"/>
            <material name="Blue"/>
            <geometry>
                <box size="0.0015 0.0055 0.0047"/>
            </geometry>
        </visual>
        <collision>
            <origin rpy="0 0 0" xyz="0 0 0"/>
            <material name="Blue"/>
            <geometry>
                <box size="0.0015 0.0055 0.0047"/>
            </geometry>
        </collision>
    </link>
    <joint name="bh_link1_sensor3_joint" type="fixed">
        <origin rpy="0 0 0" xyz="0.0105 0.02225 0.0052"/>
        <parent link="bh_finger_14_link"/>
        <child link="bh_link1_sensor3_link"/>
    </joint>
    <link name="bh_link1_sensor3_link">
        <inertial>
            <mass value="0.1"/>
            <origin rpy="0 0 0" xyz="0 0 0"/>
            <inertia ixx="0.01" ixy="0" ixz="0" iyy="0.01" iyz="0" izz="0.01"/>
        </inertial>
        <visual>
            <origin rpy="0 0 0" xyz="0 0 0"/>
            <material name="Blue"/>
            <geometry>
                <box size="0.0015 0.0055 0.0047"/>
            </geometry>
        </visual>
        <collision>
            <origin rpy="0 0 0" xyz="0 0 0"/>
            <material name="Blue"/>
            <geometry>
                <box size="0.0015 0.0055 0.0047"/>
            </geometry>
        </collision>
    </link>
    <joint name="bh_link1_sensor4_joint" type="fixed">
        <origin rpy="0 0 0" xyz="0.0105 0.02825 -0.005175"/>
        <parent link="bh_finger_14_link"/>
        <child link="bh_link1_sensor4_link"/>
    </joint>
    <link name="bh_link1_sensor4_link">
        <inertial>
            <mass value="0.1"/>
            <origin rpy="0 0 0" xyz="0 0 0"/>
            <inertia ixx="0.01" ixy="0" ixz="0" iyy="0.01" iyz="0" izz="0.01"/>
        </inertial>
        <visual>
            <origin rpy="0 0 0" xyz="0 0 0"/>
            <material name="Blue"/>
            <geometry>
                <box size="0.0015 0.0055 0.00465"/>
            </geometry>
        </visual>
        <collision>
            <origin rpy="0 0 0" xyz="0 0 0"/>
            <material name="Blue"/>
            <geometry>
                <box size="0.0015 0.0055 0.00465"/>
            </geometry>
        </collision>
    </link>
    <joint name="bh_link1_sensor5_joint" type="fixed">
        <origin rpy="0 0 0" xyz="0.0105 0.02825 0.0"/>
        <parent link="bh_finger_14_link"/>
        <child link="bh_link1_sensor5_link"/>
    </joint>
    <link name="bh_link1_sensor5_link">
        <inertial>
            <mass value="0.1"/>
            <origin rpy="0 0 0" xyz="0 0 0"/>
            <inertia ixx="0.01" ixy="0" ixz="0" iyy="0.01" iyz="0" izz="0.01"/>
        </inertial>
        <visual>
            <origin rpy="0 0 0" xyz="0 0 0"/>
            <material name="Blue"/>
            <geometry>
                <box size="0.0015 0.0055 0.0047"/>
            </geometry>
        </visual>
        <collision>
            <origin rpy="0 0 0" xyz="0 0 0"/>
            <material name="Blue"/>
            <geometry>
                <box size="0.0015 0.0055 0.0047"/>
            </geometry>
        </collision>
    </link>
    <joint name="bh_link1_sensor6_joint" type="fixed">
        <origin rpy="0 0 0" xyz="0.0105 0.02825 0.0052"/>
        <parent link="bh_finger_14_link"/>
        <child link="bh_link1_sensor6_link"/>
    </joint>
    <link name="bh_link1_sensor6_link">
        <inertial>
            <mass value="0.1"/>
            <origin rpy="0 0 0" xyz="0 0 0"/>
            <inertia ixx="0.01" ixy="0" ixz="0" iyy="0.01" iyz="0" izz="0.01"/>
        </inertial>
        <visual>
            <origin rpy="0 0 0" xyz="0 0 0"/>
            <material name="Blue"/>
            <geometry>
                <box size="0.0015 0.0055 0.0047"/>
            </geometry>
        </visual>
        <collision>
            <origin rpy="0 0 0" xyz="0 0 0"/>
            <material name="Blue"/>
            <geometry>
                <box size="0.0015 0.0055 0.0047"/>
            </geometry>
        </collision>
    </link>
    <joint name="bh_link1_sensor7_joint" type="fixed">
        <origin rpy="0 0 0" xyz="0.0105 0.03425 -0.005175"/>
        <parent link="bh_finger_14_link"/>
        <child link="bh_link1_sensor7_link"/>
    </joint>
    <link name="bh_link1_sensor7_link">
        <inertial>
            <mass value="0.1"/>
            <origin rpy="0 0 0" xyz="0 0 0"/>
            <inertia ixx="0.01" ixy="0" ixz="0" iyy="0.01" iyz="0" izz="0.01"/>
        </inertial>
        <visual>
            <origin rpy="0 0 0" xyz="0 0 0"/>
            <material name="Blue"/>
            <geometry>
                <box size="0.0015 0.0055 0.00465"/>
            </geometry>
        </visual>
        <collision>
            <origin rpy="0 0 0" xyz="0 0 0"/>
            <material name="Blue"/>
            <geometry>
                <box size="0.0015 0.0055 0.00465"/>
            </geometry>
        </collision>
    </link>
    <joint name="bh_link1_sensor8_joint" type="fixed">
        <origin rpy="0 0 0" xyz="0.0105 0.03425 0.0"/>
        <parent link="bh_finger_14_link"/>
        <child link="bh_link1_sensor8_link"/>
    </joint>
    <link name="bh_link1_sensor8_link">
        <inertial>
            <mass value="0.1"/>
            <origin rpy="0 0 0" xyz="0 0 0"/>
            <inertia ixx="0.01" ixy="0" ixz="0" iyy="0.01" iyz="0" izz="0.01"/>
        </inertial>
        <visual>
            <origin rpy="0 0 0" xyz="0 0 0"/>
            <material name="Blue"/>
            <geometry>
                <box size="0.0015 0.0055 0.0047"/>
            </geometry>
        </visual>
        <collision>
            <origin rpy="0 0 0" xyz="0 0 0"/>
            <material name="Blue"/>
            <geometry>
                <box size="0.0015 0.0055 0.0047"/>
            </geometry>
        </collision>
    </link>
    <joint name="bh_link1_sensor9_joint" type="fixed">
        <origin rpy="0 0 0" xyz="0.0105 0.03425 0.0052"/>
        <parent link="bh_finger_14_link"/>
        <child link="bh_link1_sensor9_link"/>
    </joint>
    <link name="bh_link1_sensor9_link">
        <inertial>
            <mass value="0.1"/>
            <origin rpy="0 0 0" xyz="0 0 0"/>
            <inertia ixx="0.01" ixy="0" ixz="0" iyy="0.01" iyz="0" izz="0.01"/>
        </inertial>
        <visual>
            <origin rpy="0 0 0" xyz="0 0 0"/>
            <material name="Blue"/>
            <geometry>
                <box size="0.0015 0.0055 0.0047"/>
            </geometry>
        </visual>
        <collision>
            <origin rpy="0 0 0" xyz="0 0 0"/>
            <material name="Blue"/>
            <geometry>
                <box size="0.0015 0.0055 0.0047"/>
            </geometry>
        </collision>
    </link>
    <joint name="bh_link1_sensor10_joint" type="fixed">
        <origin rpy="0 0 0" xyz="0.0105 0.04025 -0.005175"/>
        <parent link="bh_finger_14_link"/>
        <child link="bh_link1_sensor10_link"/>
    </joint>
    <link name="bh_link1_sensor10_link">
        <inertial>
            <mass value="0.1"/>
            <origin rpy="0 0 0" xyz="0 0 0"/>
            <inertia ixx="0.01" ixy="0" ixz="0" iyy="0.01" iyz="0" izz="0.01"/>
        </inertial>
        <visual>
            <origin rpy="0 0 0" xyz="0 0 0"/>
            <material name="Blue"/>
            <geometry>
                <box size="0.0015 0.0055 0.00465"/>
            </geometry>
        </visual>
        <collision>
            <origin rpy="0 0 0" xyz="0 0 0"/>
            <material name="Blue"/>
            <geometry>
                <box size="0.0015 0.0055 0.00465"/>
            </geometry>
        </collision>
    </link>
    <joint name="bh_link1_sensor11_joint" type="fixed">
        <origin rpy="0 0 0" xyz="0.0105 0.04025 0.0"/>
        <parent link="bh_finger_14_link"/>
        <child link="bh_link1_sensor11_link"/>
    </joint>
    <link name="bh_link1_sensor11_link">
        <inertial>
            <mass value="0.1"/>
            <origin rpy="0 0 0" xyz="0 0 0"/>
            <inertia ixx="0.01" ixy="0" ixz="0" iyy="0.01" iyz="0" izz="0.01"/>
        </inertial>
        <visual>
            <origin rpy="0 0 0" xyz="0 0 0"/>
            <material name="Blue"/>
            <geometry>
                <box size="0.0015 0.0055 0.0047"/>
            </geometry>
        </visual>
        <collision>
            <origin rpy="0 0 0" xyz="0 0 0"/>
            <material name="Blue"/>
            <geometry>
                <box size="0.0015 0.0055 0.0047"/>
            </geometry>
        </collision>
    </link>
    <joint name="bh_link1_sensor12_joint" type="fixed">
        <origin rpy="0 0 0" xyz="0.0105 0.04025 0.0052"/>
        <parent link="bh_finger_14_link"/>
        <child link="bh_link1_sensor12_link"/>
    </joint>
    <link name="bh_link1_sensor12_link">
        <inertial>
            <mass value="0.1"/>
            <origin rpy="0 0 0" xyz="0 0 0"/>
            <inertia ixx="0.01" ixy="0" ixz="0" iyy="0.01" iyz="0" izz="0.01"/>
        </inertial>
        <visual>
            <origin rpy="0 0 0" xyz="0 0 0"/>
            <material name="Blue"/>
            <geometry>
                <box size="0.0015 0.0055 0.0047"/>
            </geometry>
        </visual>
        <collision>
            <origin rpy="0 0 0" xyz="0 0 0"/>
            <material name="Blue"/>
            <geometry>
                <box size="0.0015 0.0055 0.0047"/>
            </geometry>
        </collision>
    </link>
    <joint name="bh_link1_sensor13_joint" type="fixed">
        <origin rpy="0 0 0" xyz="0.0095 0.04625 -0.005175"/>
        <parent link="bh_finger_14_link"/>
        <child link="bh_link1_sensor13_link"/>
    </joint>
    <link name="bh_link1_sensor13_link">
        <inertial>
            <mass value="0.1"/>
            <origin rpy="0 0 0" xyz="0 0 0"/>
            <inertia ixx="0.01" ixy="0" ixz="0" iyy="0.01" iyz="0" izz="0.01"/>
        </inertial>
        <visual>
            <origin rpy="0 0 0" xyz="0 0 0"/>
            <material name="Blue"/>
            <geometry>
                <box size="0.0015 0.0055 0.00465"/>
            </geometry>
        </visual>
        <collision>
            <origin rpy="0 0 0" xyz="0 0 0"/>
            <material name="Blue"/>
            <geometry>
                <box size="0.0015 0.0055 0.00465"/>
            </geometry>
        </collision>
    </link>
    <joint name="bh_link1_sensor14_joint" type="fixed">
        <origin rpy="0 0 0" xyz="0.0095 0.04625 0.0"/>
        <parent link="bh_finger_14_link"/>
        <child link="bh_link1_sensor14_link"/>
    </joint>
    <link name="bh_link1_sensor14_link">
        <inertial>
            <mass value="0.1"/>
            <origin rpy="0 0 0" xyz="0 0 0"/>
            <inertia ixx="0.01" ixy="0" ixz="0" iyy="0.01" iyz="0" izz="0.01"/>
        </inertial>
        <visual>
            <origin rpy="0 0 0" xyz="0 0 0"/>
            <material name="Blue"/>
            <geometry>
                <box size="0.0015 0.0055 0.0047"/>
            </geometry>
        </visual>
        <collision>
            <origin rpy="0 0 0" xyz="0 0 0"/>
            <material name="Blue"/>
            <geometry>
                <box size="0.0015 0.0055 0.0047"/>
            </geometry>
        </collision>
    </link>
    <joint name="bh_link1_sensor15_joint" type="fixed">
        <origin rpy="0 0 0" xyz="0.0095 0.04625 0.0052"/>
        <parent link="bh_finger_14_link"/>
        <child link="bh_link1_sensor15_link"/>
    </joint>
    <link name="bh_link1_sensor15_link">
        <inertial>
            <mass value="0.1"/>
            <origin rpy="0 0 0" xyz="0 0 0"/>
            <inertia ixx="0.01" ixy="0" ixz="0" iyy="0.01" iyz="0" izz="0.01"/>
        </inertial>
        <visual>
            <origin rpy="0 0 0" xyz="0 0 0"/>
            <material name="Blue"/>
            <geometry>
                <box size="0.0015 0.0055 0.0047"/>
            </geometry>
        </visual>
        <collision>
            <origin rpy="0 0 0" xyz="0 0 0"/>
            <material name="Blue"/>
            <geometry>
                <box size="0.0015 0.0055 0.0047"/>
            </geometry>
        </collision>
    </link>
    <joint name="bh_link1_sensor16_joint" type="fixed">
        <origin rpy="0 0 0" xyz="0.008 0.051 -0.005175"/>
        <parent link="bh_finger_14_link"/>
        <child link="bh_link1_sensor16_link"/>
    </joint>
    <link name="bh_link1_sensor16_link">
        <inertial>
            <mass value="0.1"/>
            <origin rpy="0 0 0" xyz="0 0 0"/>
            <inertia ixx="0.01" ixy="0" ixz="0" iyy="0.01" iyz="0" izz="0.01"/>
        </inertial>
        <visual>
            <origin rpy="0 0 0" xyz="0 0 0"/>
            <material name="Blue"/>
            <geometry>
                <box size="0.003 0.003 0.00465"/>
            </geometry>
        </visual>
        <collision>
            <origin rpy="0 0 0" xyz="0 0 0"/>
            <material name="Blue"/>
            <geometry>
                <box size="0.003 0.003 0.00465"/>
            </geometry>
        </collision>
    </link>
    <joint name="bh_link1_sensor17_joint" type="fixed">
        <origin rpy="0 0 0" xyz="0.008 0.051 0.0"/>
        <parent link="bh_finger_14_link"/>
        <child link="bh_link1_sensor17_link"/>
    </joint>
    <link name="bh_link1_sensor17_link">
        <inertial>
            <mass value="0.1"/>
            <origin rpy="0 0 0" xyz="0 0 0"/>
            <inertia ixx="0.01" ixy="0" ixz="0" iyy="0.01" iyz="0" izz="0.01"/>
        </inertial>
        <visual>
            <origin rpy="0 0 0" xyz="0 0 0"/>
            <material name="Blue"/>
            <geometry>
                <box size="0.003 0.003 0.0047"/>
            </geometry>
        </visual>
        <collision>
            <origin rpy="0 0 0" xyz="0 0 0"/>
            <material name="Blue"/>
            <geometry>
                <box size="0.003 0.003 0.0047"/>
            </geometry>
        </collision>
    </link>
    <joint name="bh_link1_sensor18_joint" type="fixed">
        <origin rpy="0 0 0" xyz="0.008 0.051 0.0052"/>
        <parent link="bh_finger_14_link"/>
        <child link="bh_link1_sensor18_link"/>
    </joint>
    <link name="bh_link1_sensor18_link">
        <inertial>
            <mass value="0.1"/>
            <origin rpy="0 0 0" xyz="0 0 0"/>
            <inertia ixx="0.01" ixy="0" ixz="0" iyy="0.01" iyz="0" izz="0.01"/>
        </inertial>
        <visual>
            <origin rpy="0 0 0" xyz="0 0 0"/>
            <material name="Blue"/>
            <geometry>
                <box size="0.003 0.003 0.0047"/>
            </geometry>
        </visual>
        <collision>
            <origin rpy="0 0 0" xyz="0 0 0"/>
            <material name="Blue"/>
            <geometry>
                <box size="0.003 0.003 0.0047"/>
            </geometry>
        </collision>
    </link>
    <joint name="bh_link1_sensor19_joint" type="fixed">
        <origin rpy="0 0 0" xyz="0.005 0.05425 -0.005175"/>
        <parent link="bh_finger_14_link"/>
        <child link="bh_link1_sensor19_link"/>
    </joint>
    <link name="bh_link1_sensor19_link">
        <inertial>
            <mass value="0.1"/>
            <origin rpy="0 0 0" xyz="0 0 0"/>
            <inertia ixx="0.01" ixy="0" ixz="0" iyy="0.01" iyz="0" izz="0.01"/>
        </inertial>
        <visual>
            <origin rpy="0 0 0" xyz="0 0 0"/>
            <material name="Blue"/>
            <geometry>
                <box size="0.0065 0.0035 0.00465"/>
            </geometry>
        </visual>
        <collision>
            <origin rpy="0 0 0" xyz="0 0 0"/>
            <material name="Blue"/>
            <geometry>
                <box size="0.0065 0.0035 0.00465"/>
            </geometry>
        </collision>
    </link>
    <joint name="bh_link1_sensor20_joint" type="fixed">
        <origin rpy="0 0 0" xyz="0.005 0.05425 0.0"/>
        <parent link="bh_finger_14_link"/>
        <child link="bh_link1_sensor20_link"/>
    </joint>
    <link name="bh_link1_sensor20_link">
        <inertial>
            <mass value="0.1"/>
            <origin rpy="0 0 0" xyz="0 0 0"/>
            <inertia ixx="0.01" ixy="0" ixz="0" iyy="0.01" iyz="0" izz="0.01"/>
        </inertial>
        <visual>
            <origin rpy="0 0 0" xyz="0 0 0"/>
            <material name="Blue"/>
            <geometry>
                <box size="0.0065 0.0035 0.0047"/>
            </geometry>
        </visual>
        <collision>
            <origin rpy="0 0 0" xyz="0 0 0"/>
            <material name="Blue"/>
            <geometry>
                <box size="0.0065 0.0035 0.0047"/>
            </geometry>
        </collision>
    </link>
    <joint name="bh_link1_sensor21_joint" type="fixed">
        <origin rpy="0 0 0" xyz="0.005 0.05425 0.0052"/>
        <parent link="bh_finger_14_link"/>
        <child link="bh_link1_sensor21_link"/>
    </joint>
    <link name="bh_link1_sensor21_link">
        <inertial>
            <mass value="0.1"/>
            <origin rpy="0 0 0" xyz="0 0 0"/>
            <inertia ixx="0.01" ixy="0" ixz="0" iyy="0.01" iyz="0" izz="0.01"/>
        </inertial>
        <visual>
            <origin rpy="0 0 0" xyz="0 0 0"/>
            <material name="Blue"/>
            <geometry>
                <box size="0.0065 0.0035 0.0047"/>
            </geometry>
        </visual>
        <collision>
            <origin rpy="0 0 0" xyz="0 0 0"/>
            <material name="Blue"/>
            <geometry>
                <box size="0.0065 0.0035 0.0047"/>
            </geometry>
        </collision>
    </link>
    <joint name="bh_link1_sensor22_joint" type="fixed">
        <origin rpy="0 0 0" xyz="0.003 0.056625 -0.005175"/>
        <parent link="bh_finger_14_link"/>
        <child link="bh_link1_sensor22_link"/>
    </joint>
    <link name="bh_link1_sensor22_link">
        <inertial>
            <mass value="0.1"/>
            <origin rpy="0 0 0" xyz="0 0 0"/>
            <inertia ixx="0.01" ixy="0" ixz="0" iyy="0.01" iyz="0" izz="0.01"/>
        </inertial>
        <visual>
            <origin rpy="0 0 0" xyz="0 0 0"/>
            <material name="Blue"/>
            <geometry>
                <box size="0.00875 0.0015 0.00465"/>
            </geometry>
        </visual>
        <collision>
            <origin rpy="0 0 0" xyz="0 0 0"/>
            <material name="Blue"/>
            <geometry>
                <box size="0.00875 0.0015 0.00465"/>
            </geometry>
        </collision>
    </link>
    <joint name="bh_link1_sensor23_joint" type="fixed">
        <origin rpy="0 0 0" xyz="0.003 0.056625 0.0"/>
        <parent link="bh_finger_14_link"/>
        <child link="bh_link1_sensor23_link"/>
    </joint>
    <link name="bh_link1_sensor23_link">
        <inertial>
            <mass value="0.1"/>
            <origin rpy="0 0 0" xyz="0 0 0"/>
            <inertia ixx="0.01" ixy="0" ixz="0" iyy="0.01" iyz="0" izz="0.01"/>
        </inertial>
        <visual>
            <origin rpy="0 0 0" xyz="0 0 0"/>
            <material name="Blue"/>
            <geometry>
                <box size="0.00875 0.0015 0.0047"/>
            </geometry>
        </visual>
        <collision>
            <origin rpy="0 0 0" xyz="0 0 0"/>
            <material name="Blue"/>
            <geometry>
                <box size="0.00875 0.0015 0.0047"/>
            </geometry>
        </collision>
    </link>
    <joint name="bh_link1_sensor24_joint" type="fixed">
        <origin rpy="0 0 0" xyz="0.003 0.056625 0.0052"/>
        <parent link="bh_finger_14_link"/>
        <child link="bh_link1_sensor24_link"/>
    </joint>
    <link name="bh_link1_sensor24_link">
        <inertial>
            <mass value="0.1"/>
            <origin rpy="0 0 0" xyz="0 0 0"/>
            <inertia ixx="0.01" ixy="0" ixz="0" iyy="0.01" iyz="0" izz="0.01"/>
        </inertial>
        <visual>
            <origin rpy="0 0 0" xyz="0 0 0"/>
            <material name="Blue"/>
            <geometry>
                <box size="0.00875 0.0015 0.0047"/>
            </geometry>
        </visual>
        <collision>
            <origin rpy="0 0 0" xyz="0 0 0"/>
            <material name="Blue"/>
            <geometry>
                <box size="0.00875 0.0015 0.0047"/>
            </geometry>
        </collision>
    </link>
    <joint name="bh_link2_sensor1_joint" type="fixed">
        <origin rpy="0 0 0" xyz="0.0105 0.02225 -0.005175"/>
        <parent link="bh_finger_24_link"/>
        <child link="bh_link2_sensor1_link"/>
    </joint>
    <link name="bh_link2_sensor1_link">
        <inertial>
            <mass value="0.1"/>
            <origin rpy="0 0 0" xyz="0 0 0"/>
            <inertia ixx="0.01" ixy="0" ixz="0" iyy="0.01" iyz="0" izz="0.01"/>
        </inertial>
        <visual>
            <origin rpy="0 0 0" xyz="0 0 0"/>
            <material name="Blue"/>
            <geometry>
                <box size="0.0015 0.0055 0.00465"/>
            </geometry>
        </visual>
        <collision>
            <origin rpy="0 0 0" xyz="0 0 0"/>
            <material name="Blue"/>
            <geometry>
                <box size="0.0015 0.0055 0.00465"/>
            </geometry>
        </collision>
    </link>
    <joint name="bh_link2_sensor2_joint" type="fixed">
        <origin rpy="0 0 0" xyz="0.0105 0.02225 0.0"/>
        <parent link="bh_finger_24_link"/>
        <child link="bh_link2_sensor2_link"/>
    </joint>
    <link name="bh_link2_sensor2_link">
        <inertial>
            <mass value="0.1"/>
            <origin rpy="0 0 0" xyz="0 0 0"/>
            <inertia ixx="0.01" ixy="0" ixz="0" iyy="0.01" iyz="0" izz="0.01"/>
        </inertial>
        <visual>
            <origin rpy="0 0 0" xyz="0 0 0"/>
            <material name="Blue"/>
            <geometry>
                <box size="0.0015 0.0055 0.0047"/>
            </geometry>
        </visual>
        <collision>
            <origin rpy="0 0 0" xyz="0 0 0"/>
            <material name="Blue"/>
            <geometry>
                <box size="0.0015 0.0055 0.0047"/>
            </geometry>
        </collision>
    </link>
    <joint name="bh_link2_sensor3_joint" type="fixed">
        <origin rpy="0 0 0" xyz="0.0105 0.02225 0.0052"/>
        <parent link="bh_finger_24_link"/>
        <child link="bh_link2_sensor3_link"/>
    </joint>
    <link name="bh_link2_sensor3_link">
        <inertial>
            <mass value="0.1"/>
            <origin rpy="0 0 0" xyz="0 0 0"/>
            <inertia ixx="0.01" ixy="0" ixz="0" iyy="0.01" iyz="0" izz="0.01"/>
        </inertial>
        <visual>
            <origin rpy="0 0 0" xyz="0 0 0"/>
            <material name="Blue"/>
            <geometry>
                <box size="0.0015 0.0055 0.0047"/>
            </geometry>
        </visual>
        <collision>
            <origin rpy="0 0 0" xyz="0 0 0"/>
            <material name="Blue"/>
            <geometry>
                <box size="0.0015 0.0055 0.0047"/>
            </geometry>
        </collision>
    </link>
    <joint name="bh_link2_sensor4_joint" type="fixed">
        <origin rpy="0 0 0" xyz="0.0105 0.02825 -0.005175"/>
        <parent link="bh_finger_24_link"/>
        <child link="bh_link2_sensor4_link"/>
    </joint>
    <link name="bh_link2_sensor4_link">
        <inertial>
            <mass value="0.1"/>
            <origin rpy="0 0 0" xyz="0 0 0"/>
            <inertia ixx="0.01" ixy="0" ixz="0" iyy="0.01" iyz="0" izz="0.01"/>
        </inertial>
        <visual>
            <origin rpy="0 0 0" xyz="0 0 0"/>
            <material name="Blue"/>
            <geometry>
                <box size="0.0015 0.0055 0.00465"/>
            </geometry>
        </visual>
        <collision>
            <origin rpy="0 0 0" xyz="0 0 0"/>
            <material name="Blue"/>
            <geometry>
                <box size="0.0015 0.0055 0.00465"/>
            </geometry>
        </collision>
    </link>
    <joint name="bh_link2_sensor5_joint" type="fixed">
        <origin rpy="0 0 0" xyz="0.0105 0.02825 0.0"/>
        <parent link="bh_finger_24_link"/>
        <child link="bh_link2_sensor5_link"/>
    </joint>
    <link name="bh_link2_sensor5_link">
        <inertial>
            <mass value="0.1"/>
            <origin rpy="0 0 0" xyz="0 0 0"/>
            <inertia ixx="0.01" ixy="0" ixz="0" iyy="0.01" iyz="0" izz="0.01"/>
        </inertial>
        <visual>
            <origin rpy="0 0 0" xyz="0 0 0"/>
            <material name="Blue"/>
            <geometry>
                <box size="0.0015 0.0055 0.0047"/>
            </geometry>
        </visual>
        <collision>
            <origin rpy="0 0 0" xyz="0 0 0"/>
            <material name="Blue"/>
            <geometry>
                <box size="0.0015 0.0055 0.0047"/>
            </geometry>
        </collision>
    </link>
    <joint name="bh_link2_sensor6_joint" type="fixed">
        <origin rpy="0 0 0" xyz="0.0105 0.02825 0.0052"/>
        <parent link="bh_finger_24_link"/>
        <child link="bh_link2_sensor6_link"/>
    </joint>
    <link name="bh_link2_sensor6_link">
        <inertial>
            <mass value="0.1"/>
            <origin rpy="0 0 0" xyz="0 0 0"/>
            <inertia ixx="0.01" ixy="0" ixz="0" iyy="0.01" iyz="0" izz="0.01"/>
        </inertial>
        <visual>
            <origin rpy="0 0 0" xyz="0 0 0"/>
            <material name="Blue"/>
            <geometry>
                <box size="0.0015 0.0055 0.0047"/>
            </geometry>
        </visual>
        <collision>
            <origin rpy="0 0 0" xyz="0 0 0"/>
            <material name="Blue"/>
            <geometry>
                <box size="0.0015 0.0055 0.0047"/>
            </geometry>
        </collision>
    </link>
    <joint name="bh_link2_sensor7_joint" type="fixed">
        <origin rpy="0 0 0" xyz="0.0105 0.03425 -0.005175"/>
        <parent link="bh_finger_24_link"/>
        <child link="bh_link2_sensor7_link"/>
    </joint>
    <link name="bh_link2_sensor7_link">
        <inertial>
            <mass value="0.1"/>
            <origin rpy="0 0 0" xyz="0 0 0"/>
            <inertia ixx="0.01" ixy="0" ixz="0" iyy="0.01" iyz="0" izz="0.01"/>
        </inertial>
        <visual>
            <origin rpy="0 0 0" xyz="0 0 0"/>
            <material name="Blue"/>
            <geometry>
                <box size="0.0015 0.0055 0.00465"/>
            </geometry>
        </visual>
        <collision>
            <origin rpy="0 0 0" xyz="0 0 0"/>
            <material name="Blue"/>
            <geometry>
                <box size="0.0015 0.0055 0.00465"/>
            </geometry>
        </collision>
    </link>
    <joint name="bh_link2_sensor8_joint" type="fixed">
        <origin rpy="0 0 0" xyz="0.0105 0.03425 0.0"/>
        <parent link="bh_finger_24_link"/>
        <child link="bh_link2_sensor8_link"/>
    </joint>
    <link name="bh_link2_sensor8_link">
        <inertial>
            <mass value="0.1"/>
            <origin rpy="0 0 0" xyz="0 0 0"/>
            <inertia ixx="0.01" ixy="0" ixz="0" iyy="0.01" iyz="0" izz="0.01"/>
        </inertial>
        <visual>
            <origin rpy="0 0 0" xyz="0 0 0"/>
            <material name="Blue"/>
            <geometry>
                <box size="0.0015 0.0055 0.0047"/>
            </geometry>
        </visual>
        <collision>
            <origin rpy="0 0 0" xyz="0 0 0"/>
            <material name="Blue"/>
            <geometry>
                <box size="0.0015 0.0055 0.0047"/>
            </geometry>
        </collision>
    </link>
    <joint name="bh_link2_sensor9_joint" type="fixed">
        <origin rpy="0 0 0" xyz="0.0105 0.03425 0.0052"/>
        <parent link="bh_finger_24_link"/>
        <child link="bh_link2_sensor9_link"/>
    </joint>
    <link name="bh_link2_sensor9_link">
        <inertial>
            <mass value="0.1"/>
            <origin rpy="0 0 0" xyz="0 0 0"/>
            <inertia ixx="0.01" ixy="0" ixz="0" iyy="0.01" iyz="0" izz="0.01"/>
        </inertial>
        <visual>
            <origin rpy="0 0 0" xyz="0 0 0"/>
            <material name="Blue"/>
            <geometry>
                <box size="0.0015 0.0055 0.0047"/>
            </geometry>
        </visual>
        <collision>
            <origin rpy="0 0 0" xyz="0 0 0"/>
            <material name="Blue"/>
            <geometry>
                <box size="0.0015 0.0055 0.0047"/>
            </geometry>
        </collision>
    </link>
    <joint name="bh_link2_sensor10_joint" type="fixed">
        <origin rpy="0 0 0" xyz="0.0105 0.04025 -0.005175"/>
        <parent link="bh_finger_24_link"/>
        <child link="bh_link2_sensor10_link"/>
    </joint>
    <link name="bh_link2_sensor10_link">
        <inertial>
            <mass value="0.1"/>
            <origin rpy="0 0 0" xyz="0 0 0"/>
            <inertia ixx="0.01" ixy="0" ixz="0" iyy="0.01" iyz="0" izz="0.01"/>
        </inertial>
        <visual>
            <origin rpy="0 0 0" xyz="0 0 0"/>
            <material name="Blue"/>
            <geometry>
                <box size="0.0015 0.0055 0.00465"/>
            </geometry>
        </visual>
        <collision>
            <origin rpy="0 0 0" xyz="0 0 0"/>
            <material name="Blue"/>
            <geometry>
                <box size="0.0015 0.0055 0.00465"/>
            </geometry>
        </collision>
    </link>
    <joint name="bh_link2_sensor11_joint" type="fixed">
        <origin rpy="0 0 0" xyz="0.0105 0.04025 0.0"/>
        <parent link="bh_finger_24_link"/>
        <child link="bh_link2_sensor11_link"/>
    </joint>
    <link name="bh_link2_sensor11_link">
        <inertial>
            <mass value="0.1"/>
            <origin rpy="0 0 0" xyz="0 0 0"/>
            <inertia ixx="0.01" ixy="0" ixz="0" iyy="0.01" iyz="0" izz="0.01"/>
        </inertial>
        <visual>
            <origin rpy="0 0 0" xyz="0 0 0"/>
            <material name="Blue"/>
            <geometry>
                <box size="0.0015 0.0055 0.0047"/>
            </geometry>
        </visual>
        <collision>
            <origin rpy="0 0 0" xyz="0 0 0"/>
            <material name="Blue"/>
            <geometry>
                <box size="0.0015 0.0055 0.0047"/>
            </geometry>
        </collision>
    </link>
    <joint name="bh_link2_sensor12_joint" type="fixed">
        <origin rpy="0 0 0" xyz="0.0105 0.04025 0.0052"/>
        <parent link="bh_finger_24_link"/>
        <child link="bh_link2_sensor12_link"/>
    </joint>
    <link name="bh_link2_sensor12_link">
        <inertial>
            <mass value="0.1"/>
            <origin rpy="0 0 0" xyz="0 0 0"/>
            <inertia ixx="0.01" ixy="0" ixz="0" iyy="0.01" iyz="0" izz="0.01"/>
        </inertial>
        <visual>
            <origin rpy="0 0 0" xyz="0 0 0"/>
            <material name="Blue"/>
            <geometry>
                <box size="0.0015 0.0055 0.0047"/>
            </geometry>
        </visual>
        <collision>
            <origin rpy="0 0 0" xyz="0 0 0"/>
            <material name="Blue"/>
            <geometry>
                <box size="0.0015 0.0055 0.0047"/>
            </geometry>
        </collision>
    </link>
    <joint name="bh_link2_sensor13_joint" type="fixed">
        <origin rpy="0 0 0" xyz="0.0095 0.04625 -0.005175"/>
        <parent link="bh_finger_24_link"/>
        <child link="bh_link2_sensor13_link"/>
    </joint>
    <link name="bh_link2_sensor13_link">
        <inertial>
            <mass value="0.1"/>
            <origin rpy="0 0 0" xyz="0 0 0"/>
            <inertia ixx="0.01" ixy="0" ixz="0" iyy="0.01" iyz="0" izz="0.01"/>
        </inertial>
        <visual>
            <origin rpy="0 0 0" xyz="0 0 0"/>
            <material name="Blue"/>
            <geometry>
                <box size="0.0015 0.0055 0.00465"/>
            </geometry>
        </visual>
        <collision>
            <origin rpy="0 0 0" xyz="0 0 0"/>
            <material name="Blue"/>
            <geometry>
                <box size="0.0015 0.0055 0.00465"/>
            </geometry>
        </collision>
    </link>
    <joint name="bh_link2_sensor14_joint" type="fixed">
        <origin rpy="0 0 0" xyz="0.0095 0.04625 0.0"/>
        <parent link="bh_finger_24_link"/>
        <child link="bh_link2_sensor14_link"/>
    </joint>
    <link name="bh_link2_sensor14_link">
        <inertial>
            <mass value="0.1"/>
            <origin rpy="0 0 0" xyz="0 0 0"/>
            <inertia ixx="0.01" ixy="0" ixz="0" iyy="0.01" iyz="0" izz="0.01"/>
        </inertial>
        <visual>
            <origin rpy="0 0 0" xyz="0 0 0"/>
            <material name="Blue"/>
            <geometry>
                <box size="0.0015 0.0055 0.0047"/>
            </geometry>
        </visual>
        <collision>
            <origin rpy="0 0 0" xyz="0 0 0"/>
            <material name="Blue"/>
            <geometry>
                <box size="0.0015 0.0055 0.0047"/>
            </geometry>
        </collision>
    </link>
    <joint name="bh_link2_sensor15_joint" type="fixed">
        <origin rpy="0 0 0" xyz="0.0095 0.04625 0.0052"/>
        <parent link="bh_finger_24_link"/>
        <child link="bh_link2_sensor15_link"/>
    </joint>
    <link name="bh_link2_sensor15_link">
        <inertial>
            <mass value="0.1"/>
            <origin rpy="0 0 0" xyz="0 0 0"/>
            <inertia ixx="0.01" ixy="0" ixz="0" iyy="0.01" iyz="0" izz="0.01"/>
        </inertial>
        <visual>
            <origin rpy="0 0 0" xyz="0 0 0"/>
            <material name="Blue"/>
            <geometry>
                <box size="0.0015 0.0055 0.0047"/>
            </geometry>
        </visual>
        <collision>
            <origin rpy="0 0 0" xyz="0 0 0"/>
            <material name="Blue"/>
            <geometry>
                <box size="0.0015 0.0055 0.0047"/>
            </geometry>
        </collision>
    </link>
    <joint name="bh_link2_sensor16_joint" type="fixed">
        <origin rpy="0 0 0" xyz="0.008 0.051 -0.005175"/>
        <parent link="bh_finger_24_link"/>
        <child link="bh_link2_sensor16_link"/>
    </joint>
    <link name="bh_link2_sensor16_link">
        <inertial>
            <mass value="0.1"/>
            <origin rpy="0 0 0" xyz="0 0 0"/>
            <inertia ixx="0.01" ixy="0" ixz="0" iyy="0.01" iyz="0" izz="0.01"/>
        </inertial>
        <visual>
            <origin rpy="0 0 0" xyz="0 0 0"/>
            <material name="Blue"/>
            <geometry>
                <box size="0.003 0.003 0.00465"/>
            </geometry>
        </visual>
        <collision>
            <origin rpy="0 0 0" xyz="0 0 0"/>
            <material name="Blue"/>
            <geometry>
                <box size="0.003 0.003 0.00465"/>
            </geometry>
        </collision>
    </link>
    <joint name="bh_link2_sensor17_joint" type="fixed">
        <origin rpy="0 0 0" xyz="0.008 0.051 0.0"/>
        <parent link="bh_finger_24_link"/>
        <child link="bh_link2_sensor17_link"/>
    </joint>
    <link name="bh_link2_sensor17_link">
        <inertial>
            <mass value="0.1"/>
            <origin rpy="0 0 0" xyz="0 0 0"/>
            <inertia ixx="0.01" ixy="0" ixz="0" iyy="0.01" iyz="0" izz="0.01"/>
        </inertial>
        <visual>
            <origin rpy="0 0 0" xyz="0 0 0"/>
            <material name="Blue"/>
            <geometry>
                <box size="0.003 0.003 0.0047"/>
            </geometry>
        </visual>
        <collision>
            <origin rpy="0 0 0" xyz="0 0 0"/>
            <material name="Blue"/>
            <geometry>
                <box size="0.003 0.003 0.0047"/>
            </geometry>
        </collision>
    </link>
    <joint name="bh_link2_sensor18_joint" type="fixed">
        <origin rpy="0 0 0" xyz="0.008 0.051 0.0052"/>
        <parent link="bh_finger_24_link"/>
        <child link="bh_link2_sensor18_link"/>
    </joint>
    <link name="bh_link2_sensor18_link">
        <inertial>
            <mass value="0.1"/>
            <origin rpy="0 0 0" xyz="0 0 0"/>
            <inertia ixx="0.01" ixy="0" ixz="0" iyy="0.01" iyz="0" izz="0.01"/>
        </inertial>
        <visual>
            <origin rpy="0 0 0" xyz="0 0 0"/>
            <material name="Blue"/>
            <geometry>
                <box size="0.003 0.003 0.0047"/>
            </geometry>
        </visual>
        <collision>
            <origin rpy="0 0 0" xyz="0 0 0"/>
            <material name="Blue"/>
            <geometry>
                <box size="0.003 0.003 0.0047"/>
            </geometry>
        </collision>
    </link>
    <joint name="bh_link2_sensor19_joint" type="fixed">
        <origin rpy="0 0 0" xyz="0.005 0.05425 -0.005175"/>
        <parent link="bh_finger_24_link"/>
        <child link="bh_link2_sensor19_link"/>
    </joint>
    <link name="bh_link2_sensor19_link">
        <inertial>
            <mass value="0.1"/>
            <origin rpy="0 0 0" xyz="0 0 0"/>
            <inertia ixx="0.01" ixy="0" ixz="0" iyy="0.01" iyz="0" izz="0.01"/>
        </inertial>
        <visual>
            <origin rpy="0 0 0" xyz="0 0 0"/>
            <material name="Blue"/>
            <geometry>
                <box size="0.0065 0.0035 0.00465"/>
            </geometry>
        </visual>
        <collision>
            <origin rpy="0 0 0" xyz="0 0 0"/>
            <material name="Blue"/>
            <geometry>
                <box size="0.0065 0.0035 0.00465"/>
            </geometry>
        </collision>
    </link>
    <joint name="bh_link2_sensor20_joint" type="fixed">
        <origin rpy="0 0 0" xyz="0.005 0.05425 0.0"/>
        <parent link="bh_finger_24_link"/>
        <child link="bh_link2_sensor20_link"/>
    </joint>
    <link name="bh_link2_sensor20_link">
        <inertial>
            <mass value="0.1"/>
            <origin rpy="0 0 0" xyz="0 0 0"/>
            <inertia ixx="0.01" ixy="0" ixz="0" iyy="0.01" iyz="0" izz="0.01"/>
        </inertial>
        <visual>
            <origin rpy="0 0 0" xyz="0 0 0"/>
            <material name="Blue"/>
            <geometry>
                <box size="0.0065 0.0035 0.0047"/>
            </geometry>
        </visual>
        <collision>
            <origin rpy="0 0 0" xyz="0 0 0"/>
            <material name="Blue"/>
            <geometry>
                <box size="0.0065 0.0035 0.0047"/>
            </geometry>
        </collision>
    </link>
    <joint name="bh_link2_sensor21_joint" type="fixed">
        <origin rpy="0 0 0" xyz="0.005 0.05425 0.0052"/>
        <parent link="bh_finger_24_link"/>
        <child link="bh_link2_sensor21_link"/>
    </joint>
    <link name="bh_link2_sensor21_link">
        <inertial>
            <mass value="0.1"/>
            <origin rpy="0 0 0" xyz="0 0 0"/>
            <inertia ixx="0.01" ixy="0" ixz="0" iyy="0.01" iyz="0" izz="0.01"/>
        </inertial>
        <visual>
            <origin rpy="0 0 0" xyz="0 0 0"/>
            <material name="Blue"/>
            <geometry>
                <box size="0.0065 0.0035 0.0047"/>
            </geometry>
        </visual>
        <collision>
            <origin rpy="0 0 0" xyz="0 0 0"/>
            <material name="Blue"/>
            <geometry>
                <box size="0.0065 0.0035 0.0047"/>
            </geometry>
        </collision>
    </link>
    <joint name="bh_link2_sensor22_joint" type="fixed">
        <origin rpy="0 0 0" xyz="0.003 0.056625 -0.005175"/>
        <parent link="bh_finger_24_link"/>
        <child link="bh_link2_sensor22_link"/>
    </joint>
    <link name="bh_link2_sensor22_link">
        <inertial>
            <mass value="0.1"/>
            <origin rpy="0 0 0" xyz="0 0 0"/>
            <inertia ixx="0.01" ixy="0" ixz="0" iyy="0.01" iyz="0" izz="0.01"/>
        </inertial>
        <visual>
            <origin rpy="0 0 0" xyz="0 0 0"/>
            <material name="Blue"/>
            <geometry>
                <box size="0.00875 0.0015 0.00465"/>
            </geometry>
        </visual>
        <collision>
            <origin rpy="0 0 0" xyz="0 0 0"/>
            <material name="Blue"/>
            <geometry>
                <box size="0.00875 0.0015 0.00465"/>
            </geometry>
        </collision>
    </link>
    <joint name="bh_link2_sensor23_joint" type="fixed">
        <origin rpy="0 0 0" xyz="0.003 0.056625 0.0"/>
        <parent link="bh_finger_24_link"/>
        <child link="bh_link2_sensor23_link"/>
    </joint>
    <link name="bh_link2_sensor23_link">
        <inertial>
            <mass value="0.1"/>
            <origin rpy="0 0 0" xyz="0 0 0"/>
            <inertia ixx="0.01" ixy="0" ixz="0" iyy="0.01" iyz="0" izz="0.01"/>
        </inertial>
        <visual>
            <origin rpy="0 0 0" xyz="0 0 0"/>
            <material name="Blue"/>
            <geometry>
                <box size="0.00875 0.0015 0.0047"/>
            </geometry>
        </visual>
        <collision>
            <origin rpy="0 0 0" xyz="0 0 0"/>
            <material name="Blue"/>
            <geometry>
                <box size="0.00875 0.0015 0.0047"/>
            </geometry>
        </collision>
    </link>
    <joint name="bh_link2_sensor24_joint" type="fixed">
        <origin rpy="0 0 0" xyz="0.003 0.056625 0.0052"/>
        <parent link="bh_finger_24_link"/>
        <child link="bh_link2_sensor24_link"/>
    </joint>
    <link name="bh_link2_sensor24_link">
        <inertial>
            <mass value="0.1"/>
            <origin rpy="0 0 0" xyz="0 0 0"/>
            <inertia ixx="0.01" ixy="0" ixz="0" iyy="0.01" iyz="0" izz="0.01"/>
        </inertial>
        <visual>
            <origin rpy="0 0 0" xyz="0 0 0"/>
            <material name="Blue"/>
            <geometry>
                <box size="0.00875 0.0015 0.0047"/>
            </geometry>
        </visual>
        <collision>
            <origin rpy="0 0 0" xyz="0 0 0"/>
            <material name="Blue"/>
            <geometry>
                <box size="0.00875 0.0015 0.0047"/>
            </geometry>
        </collision>
    </link>
    <joint name="bh_link3_sensor1_joint" type="fixed">
        <origin rpy="0 0 0" xyz="0.0105 0.02225 -0.005175"/>
        <parent link="bh_finger_34_link"/>
        <child link="bh_link3_sensor1_link"/>
    </joint>
    <link name="bh_link3_sensor1_link">
        <inertial>
            <mass value="0.1"/>
            <origin rpy="0 0 0" xyz="0 0 0"/>
            <inertia ixx="0.01" ixy="0" ixz="0" iyy="0.01" iyz="0" izz="0.01"/>
        </inertial>
        <visual>
            <origin rpy="0 0 0" xyz="0 0 0"/>
            <material name="Blue"/>
            <geometry>
                <box size="0.0015 0.0055 0.00465"/>
            </geometry>
        </visual>
        <collision>
            <origin rpy="0 0 0" xyz="0 0 0"/>
            <material name="Blue"/>
            <geometry>
                <box size="0.0015 0.0055 0.00465"/>
            </geometry>
        </collision>
    </link>
    <joint name="bh_link3_sensor2_joint" type="fixed">
        <origin rpy="0 0 0" xyz="0.0105 0.02225 0.0"/>
        <parent link="bh_finger_34_link"/>
        <child link="bh_link3_sensor2_link"/>
    </joint>
    <link name="bh_link3_sensor2_link">
        <inertial>
            <mass value="0.1"/>
            <origin rpy="0 0 0" xyz="0 0 0"/>
            <inertia ixx="0.01" ixy="0" ixz="0" iyy="0.01" iyz="0" izz="0.01"/>
        </inertial>
        <visual>
            <origin rpy="0 0 0" xyz="0 0 0"/>
            <material name="Blue"/>
            <geometry>
                <box size="0.0015 0.0055 0.0047"/>
            </geometry>
        </visual>
        <collision>
            <origin rpy="0 0 0" xyz="0 0 0"/>
            <material name="Blue"/>
            <geometry>
                <box size="0.0015 0.0055 0.0047"/>
            </geometry>
        </collision>
    </link>
    <joint name="bh_link3_sensor3_joint" type="fixed">
        <origin rpy="0 0 0" xyz="0.0105 0.02225 0.0052"/>
        <parent link="bh_finger_34_link"/>
        <child link="bh_link3_sensor3_link"/>
    </joint>
    <link name="bh_link3_sensor3_link">
        <inertial>
            <mass value="0.1"/>
            <origin rpy="0 0 0" xyz="0 0 0"/>
            <inertia ixx="0.01" ixy="0" ixz="0" iyy="0.01" iyz="0" izz="0.01"/>
        </inertial>
        <visual>
            <origin rpy="0 0 0" xyz="0 0 0"/>
            <material name="Blue"/>
            <geometry>
                <box size="0.0015 0.0055 0.0047"/>
            </geometry>
        </visual>
        <collision>
            <origin rpy="0 0 0" xyz="0 0 0"/>
            <material name="Blue"/>
            <geometry>
                <box size="0.0015 0.0055 0.0047"/>
            </geometry>
        </collision>
    </link>
    <joint name="bh_link3_sensor4_joint" type="fixed">
        <origin rpy="0 0 0" xyz="0.0105 0.02825 -0.005175"/>
        <parent link="bh_finger_34_link"/>
        <child link="bh_link3_sensor4_link"/>
    </joint>
    <link name="bh_link3_sensor4_link">
        <inertial>
            <mass value="0.1"/>
            <origin rpy="0 0 0" xyz="0 0 0"/>
            <inertia ixx="0.01" ixy="0" ixz="0" iyy="0.01" iyz="0" izz="0.01"/>
        </inertial>
        <visual>
            <origin rpy="0 0 0" xyz="0 0 0"/>
            <material name="Blue"/>
            <geometry>
                <box size="0.0015 0.0055 0.00465"/>
            </geometry>
        </visual>
        <collision>
            <origin rpy="0 0 0" xyz="0 0 0"/>
            <material name="Blue"/>
            <geometry>
                <box size="0.0015 0.0055 0.00465"/>
            </geometry>
        </collision>
    </link>
    <joint name="bh_link3_sensor5_joint" type="fixed">
        <origin rpy="0 0 0" xyz="0.0105 0.02825 0.0"/>
        <parent link="bh_finger_34_link"/>
        <child link="bh_link3_sensor5_link"/>
    </joint>
    <link name="bh_link3_sensor5_link">
        <inertial>
            <mass value="0.1"/>
            <origin rpy="0 0 0" xyz="0 0 0"/>
            <inertia ixx="0.01" ixy="0" ixz="0" iyy="0.01" iyz="0" izz="0.01"/>
        </inertial>
        <visual>
            <origin rpy="0 0 0" xyz="0 0 0"/>
            <material name="Blue"/>
            <geometry>
                <box size="0.0015 0.0055 0.0047"/>
            </geometry>
        </visual>
        <collision>
            <origin rpy="0 0 0" xyz="0 0 0"/>
            <material name="Blue"/>
            <geometry>
                <box size="0.0015 0.0055 0.0047"/>
            </geometry>
        </collision>
    </link>
    <joint name="bh_link3_sensor6_joint" type="fixed">
        <origin rpy="0 0 0" xyz="0.0105 0.02825 0.0052"/>
        <parent link="bh_finger_34_link"/>
        <child link="bh_link3_sensor6_link"/>
    </joint>
    <link name="bh_link3_sensor6_link">
        <inertial>
            <mass value="0.1"/>
            <origin rpy="0 0 0" xyz="0 0 0"/>
            <inertia ixx="0.01" ixy="0" ixz="0" iyy="0.01" iyz="0" izz="0.01"/>
        </inertial>
        <visual>
            <origin rpy="0 0 0" xyz="0 0 0"/>
            <material name="Blue"/>
            <geometry>
                <box size="0.0015 0.0055 0.0047"/>
            </geometry>
        </visual>
        <collision>
            <origin rpy="0 0 0" xyz="0 0 0"/>
            <material name="Blue"/>
            <geometry>
                <box size="0.0015 0.0055 0.0047"/>
            </geometry>
        </collision>
    </link>
    <joint name="bh_link3_sensor7_joint" type="fixed">
        <origin rpy="0 0 0" xyz="0.0105 0.03425 -0.005175"/>
        <parent link="bh_finger_34_link"/>
        <child link="bh_link3_sensor7_link"/>
    </joint>
    <link name="bh_link3_sensor7_link">
        <inertial>
            <mass value="0.1"/>
            <origin rpy="0 0 0" xyz="0 0 0"/>
            <inertia ixx="0.01" ixy="0" ixz="0" iyy="0.01" iyz="0" izz="0.01"/>
        </inertial>
        <visual>
            <origin rpy="0 0 0" xyz="0 0 0"/>
            <material name="Blue"/>
            <geometry>
                <box size="0.0015 0.0055 0.00465"/>
            </geometry>
        </visual>
        <collision>
            <origin rpy="0 0 0" xyz="0 0 0"/>
            <material name="Blue"/>
            <geometry>
                <box size="0.0015 0.0055 0.00465"/>
            </geometry>
        </collision>
    </link>
    <joint name="bh_link3_sensor8_joint" type="fixed">
        <origin rpy="0 0 0" xyz="0.0105 0.03425 0.0"/>
        <parent link="bh_finger_34_link"/>
        <child link="bh_link3_sensor8_link"/>
    </joint>
    <link name="bh_link3_sensor8_link">
        <inertial>
            <mass value="0.1"/>
            <origin rpy="0 0 0" xyz="0 0 0"/>
            <inertia ixx="0.01" ixy="0" ixz="0" iyy="0.01" iyz="0" izz="0.01"/>
        </inertial>
        <visual>
            <origin rpy="0 0 0" xyz="0 0 0"/>
            <material name="Blue"/>
            <geometry>
                <box size="0.0015 0.0055 0.0047"/>
            </geometry>
        </visual>
        <collision>
            <origin rpy="0 0 0" xyz="0 0 0"/>
            <material name="Blue"/>
            <geometry>
                <box size="0.0015 0.0055 0.0047"/>
            </geometry>
        </collision>
    </link>
    <joint name="bh_link3_sensor9_joint" type="fixed">
        <origin rpy="0 0 0" xyz="0.0105 0.03425 0.0052"/>
        <parent link="bh_finger_34_link"/>
        <child link="bh_link3_sensor9_link"/>
    </joint>
    <link name="bh_link3_sensor9_link">
        <inertial>
            <mass value="0.1"/>
            <origin rpy="0 0 0" xyz="0 0 0"/>
            <inertia ixx="0.01" ixy="0" ixz="0" iyy="0.01" iyz="0" izz="0.01"/>
        </inertial>
        <visual>
            <origin rpy="0 0 0" xyz="0 0 0"/>
            <material name="Blue"/>
            <geometry>
                <box size="0.0015 0.0055 0.0047"/>
            </geometry>
        </visual>
        <collision>
            <origin rpy="0 0 0" xyz="0 0 0"/>
            <material name="Blue"/>
            <geometry>
                <box size="0.0015 0.0055 0.0047"/>
            </geometry>
        </collision>
    </link>
    <joint name="bh_link3_sensor10_joint" type="fixed">
        <origin rpy="0 0 0" xyz="0.0105 0.04025 -0.005175"/>
        <parent link="bh_finger_34_link"/>
        <child link="bh_link3_sensor10_link"/>
    </joint>
    <link name="bh_link3_sensor10_link">
        <inertial>
            <mass value="0.1"/>
            <origin rpy="0 0 0" xyz="0 0 0"/>
            <inertia ixx="0.01" ixy="0" ixz="0" iyy="0.01" iyz="0" izz="0.01"/>
        </inertial>
        <visual>
            <origin rpy="0 0 0" xyz="0 0 0"/>
            <material name="Blue"/>
            <geometry>
                <box size="0.0015 0.0055 0.00465"/>
            </geometry>
        </visual>
        <collision>
            <origin rpy="0 0 0" xyz="0 0 0"/>
            <material name="Blue"/>
            <geometry>
                <box size="0.0015 0.0055 0.00465"/>
            </geometry>
        </collision>
    </link>
    <joint name="bh_link3_sensor11_joint" type="fixed">
        <origin rpy="0 0 0" xyz="0.0105 0.04025 0.0"/>
        <parent link="bh_finger_34_link"/>
        <child link="bh_link3_sensor11_link"/>
    </joint>
    <link name="bh_link3_sensor11_link">
        <inertial>
            <mass value="0.1"/>
            <origin rpy="0 0 0" xyz="0 0 0"/>
            <inertia ixx="0.01" ixy="0" ixz="0" iyy="0.01" iyz="0" izz="0.01"/>
        </inertial>
        <visual>
            <origin rpy="0 0 0" xyz="0 0 0"/>
            <material name="Blue"/>
            <geometry>
                <box size="0.0015 0.0055 0.0047"/>
            </geometry>
        </visual>
        <collision>
            <origin rpy="0 0 0" xyz="0 0 0"/>
            <material name="Blue"/>
            <geometry>
                <box size="0.0015 0.0055 0.0047"/>
            </geometry>
        </collision>
    </link>
    <joint name="bh_link3_sensor12_joint" type="fixed">
        <origin rpy="0 0 0" xyz="0.0105 0.04025 0.0052"/>
        <parent link="bh_finger_34_link"/>
        <child link="bh_link3_sensor12_link"/>
    </joint>
    <link name="bh_link3_sensor12_link">
        <inertial>
            <mass value="0.1"/>
            <origin rpy="0 0 0" xyz="0 0 0"/>
            <inertia ixx="0.01" ixy="0" ixz="0" iyy="0.01" iyz="0" izz="0.01"/>
        </inertial>
        <visual>
            <origin rpy="0 0 0" xyz="0 0 0"/>
            <material name="Blue"/>
            <geometry>
                <box size="0.0015 0.0055 0.0047"/>
            </geometry>
        </visual>
        <collision>
            <origin rpy="0 0 0" xyz="0 0 0"/>
            <material name="Blue"/>
            <geometry>
                <box size="0.0015 0.0055 0.0047"/>
            </geometry>
        </collision>
    </link>
    <joint name="bh_link3_sensor13_joint" type="fixed">
        <origin rpy="0 0 0" xyz="0.0095 0.04625 -0.005175"/>
        <parent link="bh_finger_34_link"/>
        <child link="bh_link3_sensor13_link"/>
    </joint>
    <link name="bh_link3_sensor13_link">
        <inertial>
            <mass value="0.1"/>
            <origin rpy="0 0 0" xyz="0 0 0"/>
            <inertia ixx="0.01" ixy="0" ixz="0" iyy="0.01" iyz="0" izz="0.01"/>
        </inertial>
        <visual>
            <origin rpy="0 0 0" xyz="0 0 0"/>
            <material name="Blue"/>
            <geometry>
                <box size="0.0015 0.0055 0.00465"/>
            </geometry>
        </visual>
        <collision>
            <origin rpy="0 0 0" xyz="0 0 0"/>
            <material name="Blue"/>
            <geometry>
                <box size="0.0015 0.0055 0.00465"/>
            </geometry>
        </collision>
    </link>
    <joint name="bh_link3_sensor14_joint" type="fixed">
        <origin rpy="0 0 0" xyz="0.0095 0.04625 0.0"/>
        <parent link="bh_finger_34_link"/>
        <child link="bh_link3_sensor14_link"/>
    </joint>
    <link name="bh_link3_sensor14_link">
        <inertial>
            <mass value="0.1"/>
            <origin rpy="0 0 0" xyz="0 0 0"/>
            <inertia ixx="0.01" ixy="0" ixz="0" iyy="0.01" iyz="0" izz="0.01"/>
        </inertial>
        <visual>
            <origin rpy="0 0 0" xyz="0 0 0"/>
            <material name="Blue"/>
            <geometry>
                <box size="0.0015 0.0055 0.0047"/>
            </geometry>
        </visual>
        <collision>
            <origin rpy="0 0 0" xyz="0 0 0"/>
            <material name="Blue"/>
            <geometry>
                <box size="0.0015 0.0055 0.0047"/>
            </geometry>
        </collision>
    </link>
    <joint name="bh_link3_sensor15_joint" type="fixed">
        <origin rpy="0 0 0" xyz="0.0095 0.04625 0.0052"/>
        <parent link="bh_finger_34_link"/>
        <child link="bh_link3_sensor15_link"/>
    </joint>
    <link name="bh_link3_sensor15_link">
        <inertial>
            <mass value="0.1"/>
            <origin rpy="0 0 0" xyz="0 0 0"/>
            <inertia ixx="0.01" ixy="0" ixz="0" iyy="0.01" iyz="0" izz="0.01"/>
        </inertial>
        <visual>
            <origin rpy="0 0 0" xyz="0 0 0"/>
            <material name="Blue"/>
            <geometry>
                <box size="0.0015 0.0055 0.0047"/>
            </geometry>
        </visual>
        <collision>
            <origin rpy="0 0 0" xyz="0 0 0"/>
            <material name="Blue"/>
            <geometry>
                <box size="0.0015 0.0055 0.0047"/>
            </geometry>
        </collision>
    </link>
    <joint name="bh_link3_sensor16_joint" type="fixed">
        <origin rpy="0 0 0" xyz="0.008 0.051 -0.005175"/>
        <parent link="bh_finger_34_link"/>
        <child link="bh_link3_sensor16_link"/>
    </joint>
    <link name="bh_link3_sensor16_link">
        <inertial>
            <mass value="0.1"/>
            <origin rpy="0 0 0" xyz="0 0 0"/>
            <inertia ixx="0.01" ixy="0" ixz="0" iyy="0.01" iyz="0" izz="0.01"/>
        </inertial>
        <visual>
            <origin rpy="0 0 0" xyz="0 0 0"/>
            <material name="Blue"/>
            <geometry>
                <box size="0.003 0.003 0.00465"/>
            </geometry>
        </visual>
        <collision>
            <origin rpy="0 0 0" xyz="0 0 0"/>
            <material name="Blue"/>
            <geometry>
                <box size="0.003 0.003 0.00465"/>
            </geometry>
        </collision>
    </link>
    <joint name="bh_link3_sensor17_joint" type="fixed">
        <origin rpy="0 0 0" xyz="0.008 0.051 0.0"/>
        <parent link="bh_finger_34_link"/>
        <child link="bh_link3_sensor17_link"/>
    </joint>
    <link name="bh_link3_sensor17_link">
        <inertial>
            <mass value="0.1"/>
            <origin rpy="0 0 0" xyz="0 0 0"/>
            <inertia ixx="0.01" ixy="0" ixz="0" iyy="0.01" iyz="0" izz="0.01"/>
        </inertial>
        <visual>
            <origin rpy="0 0 0" xyz="0 0 0"/>
            <material name="Blue"/>
            <geometry>
                <box size="0.003 0.003 0.0047"/>
            </geometry>
        </visual>
        <collision>
            <origin rpy="0 0 0" xyz="0 0 0"/>
            <material name="Blue"/>
            <geometry>
                <box size="0.003 0.003 0.0047"/>
            </geometry>
        </collision>
    </link>
    <joint name="bh_link3_sensor18_joint" type="fixed">
        <origin rpy="0 0 0" xyz="0.008 0.051 0.0052"/>
        <parent link="bh_finger_34_link"/>
        <child link="bh_link3_sensor18_link"/>
    </joint>
    <link name="bh_link3_sensor18_link">
        <inertial>
            <mass value="0.1"/>
            <origin rpy="0 0 0" xyz="0 0 0"/>
            <inertia ixx="0.01" ixy="0" ixz="0" iyy="0.01" iyz="0" izz="0.01"/>
        </inertial>
        <visual>
            <origin rpy="0 0 0" xyz="0 0 0"/>
            <material name="Blue"/>
            <geometry>
                <box size="0.003 0.003 0.0047"/>
            </geometry>
        </visual>
        <collision>
            <origin rpy="0 0 0" xyz="0 0 0"/>
            <material name="Blue"/>
            <geometry>
                <box size="0.003 0.003 0.0047"/>
            </geometry>
        </collision>
    </link>
    <joint name="bh_link3_sensor19_joint" type="fixed">
        <origin rpy="0 0 0" xyz="0.005 0.05425 -0.005175"/>
        <parent link="bh_finger_34_link"/>
        <child link="bh_link3_sensor19_link"/>
    </joint>
    <link name="bh_link3_sensor19_link">
        <inertial>
            <mass value="0.1"/>
            <origin rpy="0 0 0" xyz="0 0 0"/>
            <inertia ixx="0.01" ixy="0" ixz="0" iyy="0.01" iyz="0" izz="0.01"/>
        </inertial>
        <visual>
            <origin rpy="0 0 0" xyz="0 0 0"/>
            <material name="Blue"/>
            <geometry>
                <box size="0.0065 0.0035 0.00465"/>
            </geometry>
        </visual>
        <collision>
            <origin rpy="0 0 0" xyz="0 0 0"/>
            <material name="Blue"/>
            <geometry>
                <box size="0.0065 0.0035 0.00465"/>
            </geometry>
        </collision>
    </link>
    <joint name="bh_link3_sensor20_joint" type="fixed">
        <origin rpy="0 0 0" xyz="0.005 0.05425 0.0"/>
        <parent link="bh_finger_34_link"/>
        <child link="bh_link3_sensor20_link"/>
    </joint>
    <link name="bh_link3_sensor20_link">
        <inertial>
            <mass value="0.1"/>
            <origin rpy="0 0 0" xyz="0 0 0"/>
            <inertia ixx="0.01" ixy="0" ixz="0" iyy="0.01" iyz="0" izz="0.01"/>
        </inertial>
        <visual>
            <origin rpy="0 0 0" xyz="0 0 0"/>
            <material name="Blue"/>
            <geometry>
                <box size="0.0065 0.0035 0.0047"/>
            </geometry>
        </visual>
        <collision>
            <origin rpy="0 0 0" xyz="0 0 0"/>
            <material name="Blue"/>
            <geometry>
                <box size="0.0065 0.0035 0.0047"/>
            </geometry>
        </collision>
    </link>
    <joint name="bh_link3_sensor21_joint" type="fixed">
        <origin rpy="0 0 0" xyz="0.005 0.05425 0.0052"/>
        <parent link="bh_finger_34_link"/>
        <child link="bh_link3_sensor21_link"/>
    </joint>
    <link name="bh_link3_sensor21_link">
        <inertial>
            <mass value="0.1"/>
            <origin rpy="0 0 0" xyz="0 0 0"/>
            <inertia ixx="0.01" ixy="0" ixz="0" iyy="0.01" iyz="0" izz="0.01"/>
        </inertial>
        <visual>
            <origin rpy="0 0 0" xyz="0 0 0"/>
            <material name="Blue"/>
            <geometry>
                <box size="0.0065 0.0035 0.0047"/>
            </geometry>
        </visual>
        <collision>
            <origin rpy="0 0 0" xyz="0 0 0"/>
            <material name="Blue"/>
            <geometry>
                <box size="0.0065 0.0035 0.0047"/>
            </geometry>
        </collision>
    </link>
    <joint name="bh_link3_sensor22_joint" type="fixed">
        <origin rpy="0 0 0" xyz="0.003 0.056625 -0.005175"/>
        <parent link="bh_finger_34_link"/>
        <child link="bh_link3_sensor22_link"/>
    </joint>
    <link name="bh_link3_sensor22_link">
        <inertial>
            <mass value="0.1"/>
            <origin rpy="0 0 0" xyz="0 0 0"/>
            <inertia ixx="0.01" ixy="0" ixz="0" iyy="0.01" iyz="0" izz="0.01"/>
        </inertial>
        <visual>
            <origin rpy="0 0 0" xyz="0 0 0"/>
            <material name="Blue"/>
            <geometry>
                <box size="0.00875 0.0015 0.00465"/>
            </geometry>
        </visual>
        <collision>
            <origin rpy="0 0 0" xyz="0 0 0"/>
            <material name="Blue"/>
            <geometry>
                <box size="0.00875 0.0015 0.00465"/>
            </geometry>
        </collision>
    </link>
    <joint name="bh_link3_sensor23_joint" type="fixed">
        <origin rpy="0 0 0" xyz="0.003 0.056625 0.0"/>
        <parent link="bh_finger_34_link"/>
        <child link="bh_link3_sensor23_link"/>
    </joint>
    <link name="bh_link3_sensor23_link">
        <inertial>
            <mass value="0.1"/>
            <origin rpy="0 0 0" xyz="0 0 0"/>
            <inertia ixx="0.01" ixy="0" ixz="0" iyy="0.01" iyz="0" izz="0.01"/>
        </inertial>
        <visual>
            <origin rpy="0 0 0" xyz="0 0 0"/>
            <material name="Blue"/>
            <geometry>
                <box size="0.00875 0.0015 0.0047"/>
            </geometry>
        </visual>
        <collision>
            <origin rpy="0 0 0" xyz="0 0 0"/>
            <material name="Blue"/>
            <geometry>
                <box size="0.00875 0.0015 0.0047"/>
            </geometry>
        </collision>
    </link>
    <joint name="bh_link3_sensor24_joint" type="fixed">
        <origin rpy="0 0 0" xyz="0.003 0.056625 0.0052"/>
        <parent link="bh_finger_34_link"/>
        <child link="bh_link3_sensor24_link"/>
    </joint>
    <link name="bh_link3_sensor24_link">
        <inertial>
            <mass value="0.1"/>
            <origin rpy="0 0 0" xyz="0 0 0"/>
            <inertia ixx="0.01" ixy="0" ixz="0" iyy="0.01" iyz="0" izz="0.01"/>
        </inertial>
        <visual>
            <origin rpy="0 0 0" xyz="0 0 0"/>
            <material name="Blue"/>
            <geometry>
                <box size="0.00875 0.0015 0.0047"/>
            </geometry>
        </visual>
        <collision>
            <origin rpy="0 0 0" xyz="0 0 0"/>
            <material name="Blue"/>
            <geometry>
                <box size="0.00875 0.0015 0.0047"/>
            </geometry>
        </collision>
    </link>
</robot>
